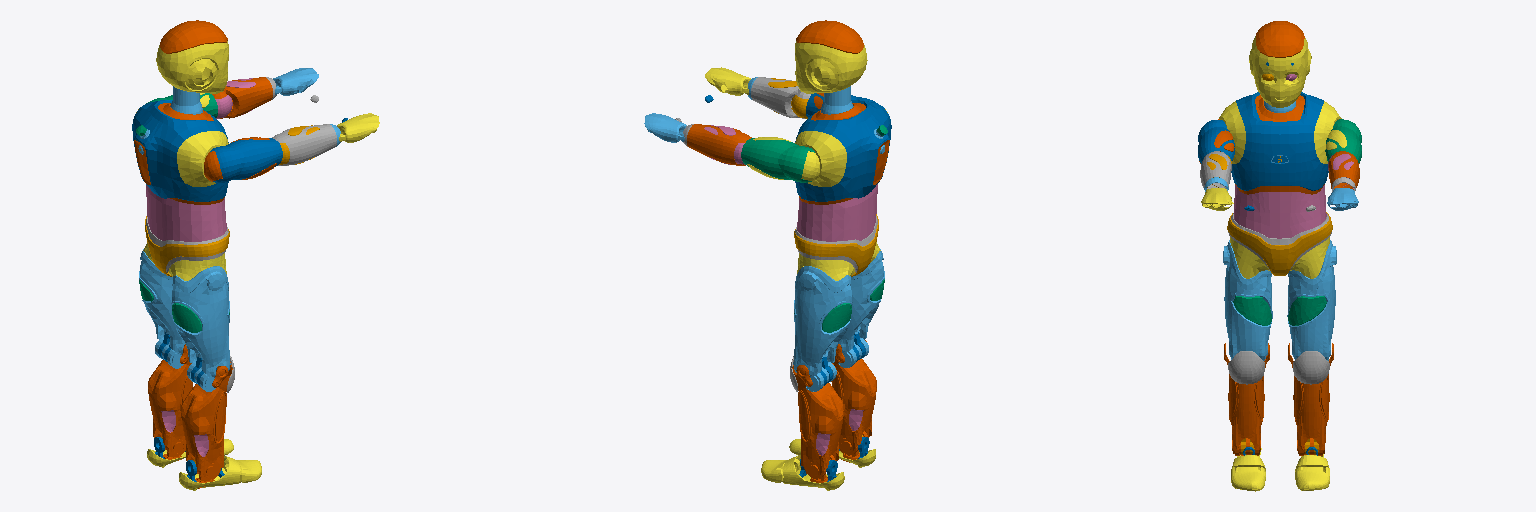
--- Render facts (derived) ---
The picture shows the robot from 3 angles, left to right: view 1: azimuth 30°, elevation 25°; view 2: azimuth 150°, elevation 25°; view 3: azimuth 270°, elevation 25°; orthographic projection.
Model RomeoH37 with 111 links and 110 joints (61 revolute, 49 fixed), rooted at base_link, posed all joints at 0.
Visible links, largest first — view 1: torso_mainskin, RThigh, RTibia, body, HeadRoll_link, LTibia, RShoulderYaw_link, LThigh, torso_flexibleskin, RElbow, HeadRoll_shell, TrunkYaw_mainskin (+10 smaller); view 2: torso_mainskin, LThigh, LTibia, body, HeadRoll_link, RTibia, LShoulderYaw_link, RThigh, torso_flexibleskin, LElbow, HeadRoll_shell, TrunkYaw_mainskin (+10 smaller); view 3: torso_mainskin, body, LThigh, RThigh, HeadRoll_link, LTibia, RTibia, TrunkYaw_mainskin, torso_flexibleskin, HeadRoll_shell, r_ankle, l_ankle (+14 smaller).
Boxes of the visible links, x1,y1,x2,y2 form: torso_mainskin: (132, 100, 228, 201); RThigh: (171, 266, 230, 378); RTibia: (181, 362, 232, 478); body: (146, 185, 226, 241); HeadRoll_link: (156, 41, 228, 93); LTibia: (148, 344, 192, 453); RShoulderYaw_link: (210, 138, 282, 182); LThigh: (139, 249, 184, 354); torso_flexibleskin: (136, 109, 228, 186); RElbow: (272, 124, 336, 165); HeadRoll_shell: (160, 20, 227, 53); TrunkYaw_mainskin: (145, 216, 229, 276); torso_mainskin: (795, 99, 891, 201); LThigh: (793, 266, 852, 377); LTibia: (792, 363, 843, 477); body: (797, 184, 877, 241); HeadRoll_link: (795, 41, 867, 93); RTibia: (831, 340, 876, 453); LShoulderYaw_link: (741, 138, 814, 182); RThigh: (839, 249, 884, 354); torso_flexibleskin: (795, 109, 887, 186); LElbow: (687, 124, 751, 165); HeadRoll_shell: (796, 20, 863, 53); TrunkYaw_mainskin: (794, 214, 878, 276); torso_mainskin: (1231, 92, 1328, 190); body: (1234, 185, 1326, 238); LThigh: (1287, 240, 1336, 359); RThigh: (1223, 240, 1272, 359); HeadRoll_link: (1249, 36, 1311, 107); LTibia: (1288, 343, 1333, 453); RTibia: (1224, 343, 1269, 453); TrunkYaw_mainskin: (1227, 212, 1332, 275); torso_flexibleskin: (1219, 101, 1341, 163); HeadRoll_shell: (1256, 21, 1304, 57); r_ankle: (1231, 448, 1265, 491); l_ankle: (1295, 454, 1329, 490).
Size in the robot's own frame: 0.7152 by 0.4924 by 1.46 metres.
53 mesh visuals loaded from 77 distinct referenced files (53 OBJ); not drawn: 24 (reference not matched to a file when rendering).

URDF robot description (RomeoH37):
<?xml version="1.0" ?>
<!-- =================================================================================== -->
<!-- |    This document was autogenerated by xacro from romeo_robot.xacro              | -->
<!-- |    EDITING THIS FILE BY HAND IS NOT RECOMMENDED                                 | -->
<!-- =================================================================================== -->
<!--******************************************************************
 ****** File automatically generated by generate_urdf.py script ******
 *********************************************************************-->
<robot name="RomeoH37" xmlns:xacro="http://www.ros.org/wiki/xacro">
  <joint name="NeckYaw" type="revolute">
    <parent link="torso"/>
    <child link="NeckYaw_link"/>
    <origin rpy="0 -2.98023e-08 0" xyz="0.0548 0 0.1675"/>
    <axis xyz="0.173651 0 0.984807"/>
    <limit effort="27.72" lower="-2.0595" upper="2.0595" velocity="4.0"/>
  </joint>
  <link name="NeckYaw_link">
    <inertial>
      <mass value="0.377845"/>
      <inertia ixx="0.000279258" ixy="-3.10908e-07" ixz="-1.49231e-05" iyy="0.000260188" iyz="-8.07538e-07" izz="8.41479e-05"/>
      <origin rpy="0 0 0" xyz="-0.00635646 0 -0.030002"/>
    </inertial>
  </link>
  <joint name="NeckPitch" type="revolute">
    <parent link="NeckYaw_link"/>
    <child link="NeckPitch_link"/>
    <origin rpy="0 -2.98023e-08 0" xyz="0 0 0"/>
    <axis xyz="0 1.0 0"/>
    <limit effort="35.0" lower="-0.3142" upper="0.6632" velocity="2.2"/>
  </joint>
  <link name="NeckPitch_link">
    <inertial>
      <mass value="0.345282"/>
      <inertia ixx="0.000476367" ixy="-1.93678e-06" ixz="0.000128915" iyy="0.000443007" iyz="5.81865e-05" izz="0.000304636"/>
      <origin rpy="0 0 0" xyz="0.00372 0 0.04811"/>
    </inertial>
    <visual>
      <geometry>
        <mesh filename="meshes/romeo/NeckPitch.obj" scale="1 1 1"/>
      </geometry>
      <origin rpy="0 0 0" xyz="0 0 0"/>
    </visual>
    <collision>
      <geometry>
        <mesh filename="meshes/romeo/NeckPitch_0.10.stl" scale="1 1 1"/>
      </geometry>
      <origin rpy="0 0 0" xyz="0 0 0"/>
    </collision>
  </link>
  <joint name="HeadPitch" type="revolute">
    <parent link="NeckPitch_link"/>
    <child link="HeadPitch_link"/>
    <origin rpy="0 0 0" xyz="0 0 0.0951"/>
    <axis xyz="0 1.0 0"/>
    <limit effort="9.40" lower="-0.2571" upper="0.2971" velocity="1.9"/>
  </joint>
  <link name="HeadPitch_link">
    <inertial>
      <mass value="0.158407"/>
      <inertia ixx="2.57346e-05" ixy="1.51196e-07" ixz="-1.52238e-05" iyy="7.43865e-05" iyz="-4.91562e-09" izz="6.6769e-05"/>
      <origin rpy="0 0 0" xyz="0.0014 0 -0.00462"/>
    </inertial>
  </link>

  <!-- Head Roll and additional texture links -->
  <joint name="HeadRoll" type="revolute">
    <parent link="HeadPitch_link"/>
    <child link="HeadRoll_link"/>
    <origin rpy="0 0 0" xyz="0 0 0"/>
    <axis xyz="1.0 0 0"/>
    <limit effort="14.46" lower="-0.4887" upper="0.4887" velocity="1.5"/>
  </joint>
  <link name="HeadRoll_link">
    <inertial>
      <mass value="2.07047"/>
      <inertia ixx="0.00933153" ixy="-3.87986e-05" ixz="0.002764" iyy="0.0110877" iyz="0.000300351" izz="0.00918888"/>
      <origin rpy="0 0 0" xyz="0.01263 0 0.07498"/>
    </inertial>
    <visual>
      <geometry>
        <mesh filename="meshes/romeo/HeadRoll_mainskin.obj" scale="1 1 1"/>
      </geometry>
      <origin rpy="0 0 0" xyz="0 0 0"/>
    </visual>
    <collision>
      <geometry>
        <mesh filename="meshes/romeo/HeadRoll_0.10.stl" scale="1 1 1"/>
      </geometry>
      <origin rpy="0 0 0" xyz="0 0 0"/>
    </collision>
  </link>
  <joint name="HeadRoll_logo_joint" type="fixed">
    <parent link="HeadRoll_link"/>
    <child link="HeadRoll_logo"/>
    <origin rpy="0 0 0" xyz="0 0 0"/>
  </joint>
  <link name="HeadRoll_logo">
    <inertial>
      <mass value="0"/>
      <inertia ixx="0" ixy="0" ixz="0" iyy="0" iyz="0" izz="0"/>
      <origin rpy="0 0 0" xyz="0 0 0"/>
    </inertial>
    <visual>
      <geometry>
        <mesh filename="meshes/romeo/HeadRoll_logo.obj" scale="1 1 1"/>
      </geometry>
      <origin rpy="0 0 0" xyz="0 0 0"/>
    </visual>
  </link>
  <joint name="HeadRoll_shell_joint" type="fixed">
    <parent link="HeadRoll_link"/>
    <child link="HeadRoll_shell"/>
    <origin rpy="0 0 0" xyz="0 0 0"/>
  </joint>
  <link name="HeadRoll_shell">
    <inertial>
      <mass value="0"/>
      <inertia ixx="0" ixy="0" ixz="0" iyy="0" iyz="0" izz="0"/>
      <origin rpy="0 0 0" xyz="0 0 0"/>
    </inertial>
    <visual>
      <geometry>
        <mesh filename="meshes/romeo/HeadRoll_shell.obj" scale="1 1 1"/>
      </geometry>
      <origin rpy="0 0 0" xyz="0 0 0"/>
    </visual>
  </link>

  <joint name="gaze_joint" type="fixed">
    <parent link="HeadRoll_link"/>
    <child link="gaze"/>
    <origin rpy="0 0 0" xyz="0.10247 0 0.05425"/>
  </joint>
  <link name="gaze">
    <inertial>
      <mass value="0"/>
      <inertia ixx="0" ixy="0" ixz="0" iyy="0" iyz="0" izz="0"/>
      <origin rpy="0 0 0" xyz="0 0 0"/>
    </inertial>
  </link>
  <joint name="LHipYaw" type="revolute">
    <parent link="body"/>
    <child link="LHipYaw_link"/>
    <origin rpy="0 0 0" xyz="0.05 0.096 -0.3375"/>
    <axis xyz="0 0 1.0"/>
    <limit effort="103.03" lower="-0.2618" upper="0.2618" velocity="1.045"/>
  </joint>
  <link name="LHipYaw_link">
    <inertial>
      <mass value="0.559188"/>
      <inertia ixx="0.000865336" ixy="-1.1052e-06" ixz="-0.000251445" iyy="0.00143007" iyz="4.25093e-06" izz="0.000851928"/>
      <origin rpy="0 0 0" xyz="-0.00922 -0.00167 0.042"/>
    </inertial>
  </link>
  <joint name="LHipRoll" type="revolute">
    <parent link="LHipYaw_link"/>
    <child link="LHip"/>
    <origin rpy="0 0 0" xyz="0 0 0"/>
    <axis xyz="1.0 0 0"/>
    <limit effort="213.15" lower="-0.2618" upper="0.5236" velocity="2.09"/>
  </joint>
  <link name="LHip">
    <inertial>
      <mass value="0.714778"/>
      <inertia ixx="0.000937272" ixy="-6.73228e-06" ixz="-2.02714e-06" iyy="0.000548117" iyz="1.34974e-06" izz="0.00101855"/>
      <origin rpy="0 0 0" xyz="0.00249 -0.00205 -0.00147"/>
    </inertial>
  </link>

  <!-- LHipPitch joints and links -->
  <joint name="LHipPitch" type="revolute">
    <parent link="LHip"/>
    <child link="LThigh"/>
    <origin rpy="0 0 0" xyz="0 0 0"/>
    <axis xyz="0 1.0 0"/>
    <limit effort="213.15" lower="-1.6581" upper="0.4014" velocity="2.09"/>
  </joint>
  <link name="LThigh">
    <inertial>
      <mass value="4.71096"/>
      <inertia ixx="0.0390706" ixy="-2.41786e-05" ixz="0.0250104" iyy="0.0395116" iyz="0.000712271" izz="0.0122599"/>
      <origin rpy="0 0 0" xyz="-0.02138 -0.00255 -0.14577"/>
    </inertial>
    <visual>
      <geometry>
        <mesh filename="meshes/romeo/LHipPitch_mainskin.obj" scale="1 1 1"/>
      </geometry>
      <origin rpy="0 0 0" xyz="0 0 0"/>
    </visual>
    <collision>
      <geometry>
        <mesh filename="meshes/romeo/LHipPitch_0.10.stl" scale="1 1 1"/>
      </geometry>
      <origin rpy="0 0 0" xyz="0 0 0"/>
    </collision>
  </link>
  <joint name="LHipPitch_shell_joint" type="fixed">
    <parent link="LThigh"/>
    <child link="LHipPitch_shell"/>
    <origin rpy="0 0 0" xyz="0 0 0"/>
  </joint>
  <link name="LHipPitch_shell">
    <inertial>
      <mass value="0"/>
      <inertia ixx="0" ixy="0" ixz="0" iyy="0" iyz="0" izz="0"/>
      <origin rpy="0 0 0" xyz="0 0 0"/>
    </inertial>
    <visual>
      <geometry>
        <mesh filename="meshes/romeo/LHipPitch_shell.obj" scale="1 1 1"/>
      </geometry>
      <origin rpy="0 0 0" xyz="0 0 0"/>
    </visual>
  </link>
  <joint name="LHipPitch_flexibleskin_joint" type="fixed">
    <parent link="LThigh"/>
    <child link="LHipPitch_flexibleskin"/>
    <origin rpy="0 0 0" xyz="0 0 0"/>
  </joint>
  <link name="LHipPitch_flexibleskin">
    <inertial>
      <mass value="0"/>
      <inertia ixx="0" ixy="0" ixz="0" iyy="0" iyz="0" izz="0"/>
      <origin rpy="0 0 0" xyz="0 0 0"/>
    </inertial>
    <visual>
      <geometry>
        <mesh filename="meshes/romeo/LHipPitch_flexibleskin.obj" scale="1 1 1"/>
      </geometry>
      <origin rpy="0 0 0" xyz="0 0 0"/>
    </visual>
  </link>
  <joint name="LHipPitch_secondaryskin_joint" type="fixed">
    <parent link="LThigh"/>
    <child link="LHipPitch_secondaryskin"/>
    <origin rpy="0 0 0" xyz="0 0 0"/>
  </joint>
  <link name="LHipPitch_secondaryskin">
    <inertial>
      <mass value="0"/>
      <inertia ixx="0" ixy="0" ixz="0" iyy="0" iyz="0" izz="0"/>
      <origin rpy="0 0 0" xyz="0 0 0"/>
    </inertial>
    <visual>
      <geometry>
        <mesh filename="meshes/romeo/LHipPitch_secondaryskin.obj" scale="1 1 1"/>
      </geometry>
      <origin rpy="0 0 0" xyz="0 0 0"/>
    </visual>
  </link>

  <!-- LKneePitch joints and links -->
  <joint name="LKneePitch" type="revolute">
    <parent link="LThigh"/>
    <child link="LTibia"/>
    <origin rpy="0 0 0" xyz="0 0 -0.322"/>
    <axis xyz="0 1.0 0"/>
    <limit effort="292.50" lower="-0.0218" upper="1.9722" velocity="6.0"/>
  </joint>
  <link name="LTibia">
    <inertial>
      <mass value="2.72291"/>
      <inertia ixx="0.0159124" ixy="5.49385e-08" ixz="0.00301963" iyy="0.0158076" iyz="-6.1473e-06" izz="0.00369233"/>
      <origin rpy="0 0 0" xyz="-0.00415 -0.00054 -0.11011"/>
    </inertial>
    <visual>
      <geometry>
        <mesh filename="meshes/romeo/LKneePitch_mainskin.obj" scale="1 1 1"/>
      </geometry>
      <origin rpy="0 0 0" xyz="0 0 0"/>
    </visual>
    <collision>
      <geometry>
        <mesh filename="meshes/romeo/LKneePitch_0.10.stl" scale="1 1 1"/>
      </geometry>
      <origin rpy="0 0 0" xyz="0 0 0"/>
    </collision>
  </link>
  <joint name="LKneePitch_secondaryskin_joint" type="fixed">
    <parent link="LTibia"/>
    <child link="LKneePitch_secondaryskin"/>
    <origin rpy="0 0 0" xyz="0 0 0"/>
  </joint>
  <link name="LKneePitch_secondaryskin">
    <inertial>
      <mass value="0"/>
      <inertia ixx="0" ixy="0" ixz="0" iyy="0" iyz="0" izz="0"/>
      <origin rpy="0 0 0" xyz="0 0 0"/>
    </inertial>
    <visual>
      <geometry>
        <mesh filename="meshes/romeo/LKneePitch_secondaryskin.obj" scale="1 1 1"/>
      </geometry>
      <origin rpy="0 0 0" xyz="0 0 0"/>
    </visual>
  </link>
  <joint name="LKneePitch_shell_joint" type="fixed">
    <parent link="LTibia"/>
    <child link="LKneePitch_shell"/>
    <origin rpy="0 0 0" xyz="0 0 0"/>
  </joint>
  <link name="LKneePitch_shell">
    <inertial>
      <mass value="0"/>
      <inertia ixx="0" ixy="0" ixz="0" iyy="0" iyz="0" izz="0"/>
      <origin rpy="0 0 0" xyz="0 0 0"/>
    </inertial>
    <visual>
      <geometry>
        <mesh filename="meshes/romeo/LKneePitch_shell.obj" scale="1 1 1"/>
      </geometry>
      <origin rpy="0 0 0" xyz="0 0 0"/>
    </visual>
  </link>
  <joint name="LKneePitch_secondaryskin2_joint" type="fixed">
    <parent link="LTibia"/>
    <child link="LKneePitch_secondaryskin2"/>
    <origin rpy="0 0 0" xyz="0 0 0"/>
  </joint>
  <link name="LKneePitch_secondaryskin2">
    <inertial>
      <mass value="0"/>
      <inertia ixx="0" ixy="0" ixz="0" iyy="0" iyz="0" izz="0"/>
      <origin rpy="0 0 0" xyz="0 0 0"/>
    </inertial>
    <visual>
      <geometry>
        <mesh filename="meshes/romeo/LKneePitch_secondaryskin2.obj" scale="1 1 1"/>
      </geometry>
      <origin rpy="0 0 0" xyz="0 0 0"/>
    </visual>
  </link>
  <joint name="LKneePitch_secondaryskin3_joint" type="fixed">
    <parent link="LTibia"/>
    <child link="LKneePitch_secondaryskin3"/>
    <origin rpy="0 0 0" xyz="0 0 0"/>
  </joint>
  <link name="LKneePitch_secondaryskin3">
    <inertial>
      <mass value="0"/>
      <inertia ixx="0" ixy="0" ixz="0" iyy="0" iyz="0" izz="0"/>
      <origin rpy="0 0 0" xyz="0 0 0"/>
    </inertial>
    <visual>
      <geometry>
        <mesh filename="meshes/romeo/LKneePitch_secondaryskin3.obj" scale="1 1 1"/>
      </geometry>
      <origin rpy="0 0 0" xyz="0 0 0"/>
    </visual>
  </link>

  <joint name="LAnklePitch" type="revolute">
    <parent link="LTibia"/>
    <child link="LAnklePitch_link"/>
    <origin rpy="0 0 0" xyz="0 0 -0.29"/>
    <axis xyz="0 1.0 0"/>
    <limit effort="213.15" lower="-0.5149" upper="0.7505" velocity="2.1"/>
  </joint>
  <link name="LAnklePitch_link">
    <inertial>
      <mass value="0.464512"/>
      <inertia ixx="0.000367336" ixy="-1.174e-07" ixz="1.0441e-07" iyy="0.000239298" iyz="-1.23189e-06" izz="0.000425531"/>
      <origin rpy="0 0 0" xyz="0.00132 -0.00117 0.00015"/>
    </inertial>
  </link>

  <!-- LAnkleRoll joints and links -->
  <joint name="LAnkleRoll" type="revolute">
    <parent link="LAnklePitch_link"/>
    <child link="l_ankle"/>
    <origin rpy="0 0 0" xyz="0 0 0"/>
    <axis xyz="1.0 0 0"/>
    <limit effort="213.15" lower="-0.3491" upper="0.3491" velocity="2.1"/>
  </joint>
  <link name="l_ankle">
    <inertial>
      <mass value="1.06764"/>
      <inertia ixx="0.000978167" ixy="-4.97135e-05" ixz="-0.000879138" iyy="0.00586633" iyz="6.13291e-05" izz="0.00589599"/>
      <origin rpy="0 0 0" xyz="0.0483878 0.00120158 -0.0367645"/>
    </inertial>
    <visual>
      <geometry>
        <mesh filename="meshes/romeo/LAnkleRoll_mainskin.obj" scale="1 1 1"/>
      </geometry>
      <origin rpy="0 0 0" xyz="0 0 0"/>
    </visual>
    <collision>
      <geometry>
        <mesh filename="meshes/romeo/LAnkleRoll_0.10.stl" scale="1 1 1"/>
      </geometry>
      <origin rpy="0 0 0" xyz="0 0 0"/>
    </collision>
  </link>
  <joint name="LAnkleRoll_secondaryskin_joint" type="fixed">
    <parent link="l_ankle"/>
    <child link="LAnkleRoll_secondaryskin"/>
    <origin rpy="0 0 0" xyz="0 0 0"/>
  </joint>
  <link name="LAnkleRoll_secondaryskin">
    <inertial>
      <mass value="0"/>
      <inertia ixx="0" ixy="0" ixz="0" iyy="0" iyz="0" izz="0"/>
      <origin rpy="0 0 0" xyz="0 0 0"/>
    </inertial>
    <visual>
      <geometry>
        <mesh filename="meshes/romeo/LAnkleRoll_secondaryskin.obj" scale="1 1 1"/>
      </geometry>
      <origin rpy="0 0 0" xyz="0 0 0"/>
    </visual>
  </link>
  <joint name="LAnkleRoll_secondaryskin2_joint" type="fixed">
    <parent link="l_ankle"/>
    <child link="LAnkleRoll_secondaryskin2"/>
    <origin rpy="0 0 0" xyz="0 0 0"/>
  </joint>
  <link name="LAnkleRoll_secondaryskin2">
    <inertial>
      <mass value="0"/>
      <inertia ixx="0" ixy="0" ixz="0" iyy="0" iyz="0" izz="0"/>
      <origin rpy="0 0 0" xyz="0 0 0"/>
    </inertial>
    <visual>
      <geometry>
        <mesh filename="meshes/romeo/LAnkleRoll_secondaryskin2.obj" scale="1 1 1"/>
      </geometry>
      <origin rpy="0 0 0" xyz="0 0 0"/>
    </visual>
  </link>


  <joint name="LLeg_effector_fixedjoint" type="fixed">
    <parent link="l_ankle"/>
    <child link="l_sole"/>
    <origin rpy="0 0 0" xyz="0 0 -0.0651"/>
    <axis xyz="0 0 0"/>
  </joint>
  <link name="l_sole">
    <inertial>
      <mass value="0"/>
      <inertia ixx="0" ixy="0" ixz="0" iyy="0" iyz="0" izz="0"/>
      <origin rpy="0 0 0" xyz="0 0 0"/>
    </inertial>
  </link>
  <joint name="RHipYaw" type="revolute">
    <parent link="body"/>
    <child link="RHipYaw_link"/>
    <origin rpy="0 0 0" xyz="0.05 -0.096 -0.3375"/>
    <axis xyz="0 0 1.0"/>
    <limit effort="103.03" lower="-0.2618" upper="0.2618" velocity="1.045"/>
  </joint>
  <link name="RHipYaw_link">
    <inertial>
      <mass value="0.559188"/>
      <inertia ixx="0.000865336" ixy="-1.83253e-05" ixz="-0.000251445" iyy="0.00143007" iyz="8.26938e-05" izz="0.000851928"/>
      <origin rpy="0 0 0" xyz="-0.00922 0.00167 0.042"/>
    </inertial>
  </link>
  <joint name="RHipRoll" type="revolute">
    <parent link="RHipYaw_link"/>
    <child link="RHip"/>
    <origin rpy="0 0 0" xyz="0 0 0"/>
    <axis xyz="1.0 0 0"/>
    <limit effort="213.15" lower="-0.5236" upper="0.2618" velocity="2.09"/>
  </joint>
  <link name="RHip">
    <inertial>
      <mass value="0.714778"/>
      <inertia ixx="0.000937272" ixy="5.64884e-07" ixz="-2.02714e-06" iyy="0.000548117" iyz="-2.95823e-06" izz="0.00101855"/>
      <origin rpy="0 0 0" xyz="0.00249 0.00205 -0.00147"/>
    </inertial>
  </link>

  <!-- RHipPitch joints and links -->
  <joint name="RHipPitch" type="revolute">
    <parent link="RHip"/>
    <child link="RThigh"/>
    <origin rpy="0 0 0" xyz="0 0 0"/>
    <axis xyz="0 1.0 0"/>
    <limit effort="213.15" lower="-1.6581" upper="0.4014" velocity="2.09"/>
  </joint>
  <link name="RThigh">
    <inertial>
      <mass value="4.71096"/>
      <inertia ixx="0.0390706" ixy="-0.000537853" ixz="0.0250104" iyy="0.0395116" iyz="-0.00278999" izz="0.0122599"/>
      <origin rpy="0 0 0" xyz="-0.02138 0.00255 -0.14577"/>
    </inertial>
    <visual>
      <geometry>
        <mesh filename="meshes/romeo/RHipPitch_mainskin.obj" scale="1 1 1"/>
      </geometry>
      <origin rpy="0 0 0" xyz="0 0 0"/>
    </visual>
    <collision>
      <geometry>
        <mesh filename="meshes/romeo/RHipPitch_0.10.stl" scale="1 1 1"/>
      </geometry>
      <origin rpy="0 0 0" xyz="0 0 0"/>
    </collision>
  </link>
  <joint name="RHipPitch_shell_joint" type="fixed">
    <parent link="RThigh"/>
    <child link="RHipPitch_shell"/>
    <origin rpy="0 0 0" xyz="0 0 0"/>
  </joint>
  <link name="RHipPitch_shell">
    <inertial>
      <mass value="0"/>
      <inertia ixx="0" ixy="0" ixz="0" iyy="0" iyz="0" izz="0"/>
      <origin rpy="0 0 0" xyz="0 0 0"/>
    </inertial>
    <visual>
      <geometry>
        <mesh filename="meshes/romeo/RHipPitch_shell.obj" scale="1 1 1"/>
      </geometry>
      <origin rpy="0 0 0" xyz="0 0 0"/>
    </visual>
  </link>
  <joint name="RHipPitch_flexibleskin_joint" type="fixed">
    <parent link="RThigh"/>
    <child link="RHipPitch_flexibleskin"/>
    <origin rpy="0 0 0" xyz="0 0 0"/>
  </joint>
  <link name="RHipPitch_flexibleskin">
    <inertial>
      <mass value="0"/>
      <inertia ixx="0" ixy="0" ixz="0" iyy="0" iyz="0" izz="0"/>
      <origin rpy="0 0 0" xyz="0 0 0"/>
    </inertial>
    <visual>
      <geometry>
        <mesh filename="meshes/romeo/RHipPitch_flexibleskin.obj" scale="1 1 1"/>
      </geometry>
      <origin rpy="0 0 0" xyz="0 0 0"/>
    </visual>
  </link>
  <joint name="RHipPitch_secondaryskin_joint" type="fixed">
    <parent link="RThigh"/>
    <child link="RHipPitch_secondaryskin"/>
    <origin rpy="0 0 0" xyz="0 0 0"/>
  </joint>
  <link name="RHipPitch_secondaryskin">
    <inertial>
      <mass value="0"/>
      <inertia ixx="0" ixy="0" ixz="0" iyy="0" iyz="0" izz="0"/>
      <origin rpy="0 0 0" xyz="0 0 0"/>
    </inertial>
    <visual>
      <geometry>
        <mesh filename="meshes/romeo/RHipPitch_secondaryskin.obj" scale="1 1 1"/>
      </geometry>
      <origin rpy="0 0 0" xyz="0 0 0"/>
    </visual>
  </link>

  <!-- RKneePitch joints and links -->
  <joint name="RKneePitch" type="revolute">
    <parent link="RThigh"/>
    <child link="RTibia"/>
    <origin rpy="0 0 0" xyz="0 0 -0.322"/>
    <axis xyz="0 1.0 0"/>
    <limit effort="292.50" lower="-0.0218" upper="1.9722" velocity="6.0"/>
  </joint>
  <link name="RTibia">
    <inertial>
      <mass value="2.72291"/>
      <inertia ixx="0.0159124" ixy="-1.21492e-05" ixz="0.00301963" iyy="0.0158076" iyz="-0.000329953" izz="0.00369233"/>
      <origin rpy="0 0 0" xyz="-0.00415 0.00054 -0.11011"/>
    </inertial>
    <visual>
      <geometry>
        <mesh filename="meshes/romeo/RKneePitch_mainskin.obj" scale="1 1 1"/>
      </geometry>
      <origin rpy="0 0 0" xyz="0 0 0"/>
    </visual>
    <collision>
      <geometry>
        <mesh filename="meshes/romeo/RKneePitch_0.10.stl" scale="1 1 1"/>
      </geometry>
      <origin rpy="0 0 0" xyz="0 0 0"/>
    </collision>
  </link>
  <joint name="RKneePitch_secondaryskin_joint" type="fixed">
    <parent link="RTibia"/>
    <child link="RKneePitch_secondaryskin"/>
    <origin rpy="0 0 0" xyz="0 0 0"/>
  </joint>
  <link name="RKneePitch_secondaryskin">
    <inertial>
      <mass value="0"/>
      <inertia ixx="0" ixy="0" ixz="0" iyy="0" iyz="0" izz="0"/>
      <origin rpy="0 0 0" xyz="0 0 0"/>
    </inertial>
    <visual>
      <geometry>
        <mesh filename="meshes/romeo/RKneePitch_secondaryskin.obj" scale="1 1 1"/>
      </geometry>
      <origin rpy="0 0 0" xyz="0 0 0"/>
    </visual>
  </link>
  <joint name="RKneePitch_shell_joint" type="fixed">
    <parent link="RTibia"/>
    <child link="RKneePitch_shell"/>
    <origin rpy="0 0 0" xyz="0 0 0"/>
  </joint>
  <link name="RKneePitch_shell">
    <inertial>
      <mass value="0"/>
      <inertia ixx="0" ixy="0" ixz="0" iyy="0" iyz="0" izz="0"/>
      <origin rpy="0 0 0" xyz="0 0 0"/>
    </inertial>
    <visual>
      <geometry>
        <mesh filename="meshes/romeo/RKneePitch_shell.obj" scale="1 1 1"/>
      </geometry>
      <origin rpy="0 0 0" xyz="0 0 0"/>
    </visual>
  </link>
  <joint name="RKneePitch_secondaryskin2_joint" type="fixed">
    <parent link="RTibia"/>
    <child link="RKneePitch_secondaryskin2"/>
    <origin rpy="0 0 0" xyz="0 0 0"/>
  </joint>
  <link name="RKneePitch_secondaryskin2">
    <inertial>
      <mass value="0"/>
      <inertia ixx="0" ixy="0" ixz="0" iyy="0" iyz="0" izz="0"/>
      <origin rpy="0 0 0" xyz="0 0 0"/>
    </inertial>
    <visual>
      <geometry>
        <mesh filename="meshes/romeo/RKneePitch_secondaryskin2.obj" scale="1 1 1"/>
      </geometry>
      <origin rpy="0 0 0" xyz="0 0 0"/>
    </visual>
  </link>
  <joint name="RKneePitch_secondaryskin3_joint" type="fixed">
    <parent link="RTibia"/>
    <child link="RKneePitch_secondaryskin3"/>
    <origin rpy="0 0 0" xyz="0 0 0"/>
  </joint>
  <link name="RKneePitch_secondaryskin3">
    <inertial>
      <mass value="0"/>
      <inertia ixx="0" ixy="0" ixz="0" iyy="0" iyz="0" izz="0"/>
      <origin rpy="0 0 0" xyz="0 0 0"/>
    </inertial>
    <visual>
      <geometry>
        <mesh filename="meshes/romeo/RKneePitch_secondaryskin3.obj" scale="1 1 1"/>
      </geometry>
      <origin rpy="0 0 0" xyz="0 0 0"/>
    </visual>
  </link>

  <joint name="RAnklePitch" type="revolute">
    <parent link="RTibia"/>
    <child link="RAnklePitch_link"/>
    <origin rpy="0 0 0" xyz="0 0 -0.29"/>
    <axis xyz="0 1.0 0"/>
    <limit effort="213.15" lower="-0.5149" upper="0.7505" velocity="2.1"/>
  </joint>
  <link name="RAnklePitch_link">
    <inertial>
      <mass value="0.464512"/>
      <inertia ixx="0.000367336" ixy="1.31739e-06" ixz="1.0441e-07" iyy="0.000239298" iyz="-1.06885e-06" izz="0.000425531"/>
      <origin rpy="0 0 0" xyz="0.00132 0.00117 0.00015"/>
    </inertial>
  </link>

  <!-- RAnkleRoll joints and links -->
  <joint name="RAnkleRoll" type="revolute">
    <parent link="RAnklePitch_link"/>
    <child link="r_ankle"/>
    <origin rpy="0 0 0" xyz="0 0 0"/>
    <axis xyz="1.0 0 0"/>
    <limit effort="213.15" lower="-0.3491" upper="0.3491" velocity="2.1"/>
  </joint>
  <link name="r_ankle">
    <inertial>
      <mass value="1.06764"/>
      <inertia ixx="0.000978167" ixy="-0.000173863" ixz="-0.000879138" iyy="0.00586633" iyz="0.000155656" izz="0.00589599"/>
      <origin rpy="0 0 0" xyz="0.0483878 -0.00120158 -0.0367645"/>
    </inertial>
    <visual>
      <geometry>
        <mesh filename="meshes/romeo/RAnkleRoll_mainskin.obj" scale="1 1 1"/>
      </geometry>
      <origin rpy="0 0 0" xyz="0 0 0"/>
    </visual>
    <collision>
      <geometry>
        <mesh filename="meshes/romeo/RAnkleRoll_0.10.stl" scale="1 1 1"/>
      </geometry>
      <origin rpy="0 0 0" xyz="0 0 0"/>
    </collision>
  </link>
  <joint name="RAnkleRoll_secondaryskin_joint" type="fixed">
    <parent link="r_ankle"/>
    <child link="RAnkleRoll_secondaryskin"/>
    <origin rpy="0 0 0" xyz="0 0 0"/>
  </joint>
  <link name="RAnkleRoll_secondaryskin">
    <inertial>
      <mass value="0"/>
      <inertia ixx="0" ixy="0" ixz="0" iyy="0" iyz="0" izz="0"/>
      <origin rpy="0 0 0" xyz="0 0 0"/>
    </inertial>
    <visual>
      <geometry>
        <mesh filename="meshes/romeo/RAnkleRoll_secondaryskin.obj" scale="1 1 1"/>
      </geometry>
      <origin rpy="0 0 0" xyz="0 0 0"/>
    </visual>
  </link>
  <joint name="RAnkleRoll_secondaryskin2_joint" type="fixed">
    <parent link="r_ankle"/>
    <child link="RAnkleRoll_secondaryskin2"/>
    <origin rpy="0 0 0" xyz="0 0 0"/>
  </joint>
  <link name="RAnkleRoll_secondaryskin2">
    <inertial>
      <mass value="0"/>
      <inertia ixx="0" ixy="0" ixz="0" iyy="0" iyz="0" izz="0"/>
      <origin rpy="0 0 0" xyz="0 0 0"/>
    </inertial>
    <visual>
      <geometry>
        <mesh filename="meshes/romeo/RAnkleRoll_secondaryskin2.obj" scale="1 1 1"/>
      </geometry>
      <origin rpy="0 0 0" xyz="0 0 0"/>
    </visual>
  </link>

  <joint name="RLeg_effector_fixedjoint" type="fixed">
    <parent link="r_ankle"/>
    <child link="r_sole"/>
    <origin rpy="0 0 0" xyz="0 0 -0.0651"/>
    <axis xyz="0 0 0"/>
  </joint>
  <link name="r_sole">
    <inertial>
      <mass value="0"/>
      <inertia ixx="0" ixy="0" ixz="0" iyy="0" iyz="0" izz="0"/>
      <origin rpy="0 0 0" xyz="0 0 0"/>
    </inertial>
  </link>
  <link name="base_link">
    <inertial>
      <mass value="0.00000001"/>
      <!-- <inertia ixx="0" ixy="0" ixz="0" iyy="0" iyz="0" izz="0"/> -->
      <inertia ixx="1" ixy="0" ixz="0" iyy="1" iyz="0" izz="1"/>
      <origin rpy="0 0 0" xyz="0 0 0"/>
    </inertial>
  </link>

  <!-- torso joints and links -->
  <joint name="base_link_fixedjoint" type="fixed">
    <parent link="base_link"/>
    <child link="torso"/>
    <origin rpy="0 0 0" xyz="0 0 0"/>
    <axis xyz="0 0 0"/>
  </joint>
  <link name="torso">
    <inertial>
      <mass value="5.85463"/>
      <inertia ixx="0.0587116" ixy="-3.02711e-06" ixz="0.0101426" iyy="0.0326812" iyz="-0.000132541" izz="0.0637705"/>
      <origin rpy="0 0 0" xyz="0.01512 0 0.06743"/>
    </inertial>
    <visual>
      <geometry>
        <mesh filename="meshes/romeo/Torso_logo.obj" scale="1 1 1"/>
      </geometry>
      <origin rpy="0 0 0" xyz="0 0 0"/>
    </visual>
    <collision>
      <geometry>
        <mesh filename="meshes/romeo/Torso_0.10.stl" scale="1 1 1"/>
      </geometry>
      <origin rpy="0 0 0" xyz="0 0 0"/>
    </collision>
  </link>
  <joint name="torso_secondaryskin_joint" type="fixed">
    <parent link="torso"/>
    <child link="torso_secondaryskin"/>
    <origin rpy="0 0 0" xyz="0 0 0"/>
  </joint>
  <link name="torso_secondaryskin">
    <inertial>
      <mass value="0"/>
      <inertia ixx="0" ixy="0" ixz="0" iyy="0" iyz="0" izz="0"/>
      <origin rpy="0 0 0" xyz="0 0 0"/>
    </inertial>
    <visual>
      <geometry>
        <mesh filename="meshes/romeo/Torso_secondaryskin.obj" scale="1 1 1"/>
      </geometry>
      <origin rpy="0 0 0" xyz="0 0 0"/>
    </visual>
  </link>
  <joint name="torso_emergencybutton_joint" type="fixed">
    <parent link="torso"/>
    <child link="torso_emergencybutton"/>
    <origin rpy="0 0 0" xyz="0 0 0"/>
  </joint>
  <link name="torso_emergencybutton">
    <inertial>
      <mass value="0"/>
      <inertia ixx="0" ixy="0" ixz="0" iyy="0" iyz="0" izz="0"/>
      <origin rpy="0 0 0" xyz="0 0 0"/>
    </inertial>
    <visual>
      <geometry>
        <mesh filename="meshes/romeo/Torso_emergencybutton.obj" scale="1 1 1"/>
      </geometry>
      <origin rpy="0 0 0" xyz="0 0 0"/>
    </visual>
  </link>
  <joint name="torso_flexibleskin_joint" type="fixed">
    <parent link="torso"/>
    <child link="torso_flexibleskin"/>
    <origin rpy="0 0 0" xyz="0 0 0"/>
  </joint>
  <link name="torso_flexibleskin">
    <inertial>
      <mass value="0"/>
      <inertia ixx="0" ixy="0" ixz="0" iyy="0" iyz="0" izz="0"/>
      <origin rpy="0 0 0" xyz="0 0 0"/>
    </inertial>
    <visual>
      <geometry>
        <mesh filename="meshes/romeo/Torso_flexibleskin.obj" scale="1 1 1"/>
      </geometry>
      <origin rpy="0 0 0" xyz="0 0 0"/>
    </visual>
  </link>
  <joint name="torso_mainskin_joint" type="fixed">
    <parent link="torso"/>
    <child link="torso_mainskin"/>
    <origin rpy="0 0 0" xyz="0 0 0"/>
  </joint>
  <link name="torso_mainskin">
    <inertial>
      <mass value="0"/>
      <inertia ixx="0" ixy="0" ixz="0" iyy="0" iyz="0" izz="0"/>
      <origin rpy="0 0 0" xyz="0 0 0"/>
    </inertial>
    <visual>
      <geometry>
        <mesh filename="meshes/romeo/Torso_mainskin.obj" scale="1 1 1"/>
      </geometry>
      <origin rpy="0 0 0" xyz="0 0 0"/>
    </visual>
  </link>
  <joint name="torso_shell_joint" type="fixed">
    <parent link="torso"/>
    <child link="torso_shell"/>
    <origin rpy="0 0 0" xyz="0 0 0"/>
  </joint>
  <link name="torso_shell">
    <inertial>
      <mass value="0"/>
      <inertia ixx="0" ixy="0" ixz="0" iyy="0" iyz="0" izz="0"/>
      <origin rpy="0 0 0" xyz="0 0 0"/>
    </inertial>
    <visual>
      <geometry>
        <mesh filename="meshes/romeo/Torso_shell.obj" scale="1 1 1"/>
      </geometry>
      <origin rpy="0 0 0" xyz="0 0 0"/>
    </visual>
  </link>

  <!-- TrunkYaw joints and links -->
  <joint name="TrunkYaw" type="revolute">
    <parent link="torso"/>
    <child link="body"/>
    <origin rpy="0 0 0" xyz="0 0 0"/>
    <axis xyz="0 0 1.0"/>
    <limit effort="49.93" lower="-0.7575" upper="0.7575" velocity="1.5"/>
  </joint>
  <link name="body">
    <inertial>
      <mass value="5.11337"/>
      <inertia ixx="0.0564204" ixy="7.26322e-05" ixz="-0.0575115" iyy="0.0521042" iyz="-3.39086e-05" izz="0.021185"/>
      <origin rpy="0 0 0" xyz="0.02825 0 -0.16653"/>
    </inertial>
    <visual>
      <geometry>
        <mesh filename="meshes/romeo/TrunkYaw_flexibleskin.obj" scale="1 1 1"/>
      </geometry>
      <origin rpy="0 0 0" xyz="0 0 0"/>
    </visual>
    <collision>
      <geometry>
        <mesh filename="meshes/romeo/TrunkYaw_0.10.stl" scale="1 1 1"/>
      </geometry>
      <origin rpy="0 0 0" xyz="0 0 0"/>
    </collision>
  </link>
  <joint name="TrunkYaw_shell_joint" type="fixed">
    <parent link="body"/>
    <child link="TrunkYaw_shell"/>
    <origin rpy="0 0 0" xyz="0 0 0"/>
  </joint>
  <link name="TrunkYaw_shell">
    <inertial>
      <mass value="0"/>
      <inertia ixx="0" ixy="0" ixz="0" iyy="0" iyz="0" izz="0"/>
      <origin rpy="0 0 0" xyz="0 0 0"/>
    </inertial>
    <visual>
      <geometry>
        <mesh filename="meshes/romeo/TrunkYaw_shell.obj" scale="1 1 1"/>
      </geometry>
      <origin rpy="0 0 0" xyz="0 0 0"/>
    </visual>
  </link>
  <joint name="TrunkYaw_mainskin_joint" type="fixed">
    <parent link="body"/>
    <child link="TrunkYaw_mainskin"/>
    <origin rpy="0 0 0" xyz="0 0 0"/>
  </joint>
  <link name="TrunkYaw_mainskin">
    <inertial>
      <mass value="0"/>
      <inertia ixx="0" ixy="0" ixz="0" iyy="0" iyz="0" izz="0"/>
      <origin rpy="0 0 0" xyz="0 0 0"/>
    </inertial>
    <visual>
      <geometry>
        <mesh filename="meshes/romeo/TrunkYaw_mainskin.obj" scale="1 1 1"/>
      </geometry>
      <origin rpy="0 0 0" xyz="0 0 0"/>
    </visual>
  </link>

  <joint name="LShoulderPitch" type="revolute">
    <parent link="torso"/>
    <child link="LShoulder"/>
    <origin rpy="1.49012e-08 7.45058e-09 0" xyz="0.049862 0.19 0.073851"/>
    <axis xyz="0.417025 0.895055 -0.15801"/>
    <limit effort="21.94" lower="-1.3491" upper="2.2462" velocity="2.2"/>
  </joint>
  <link name="LShoulder">
    <inertial>
      <mass value="0.541429"/>
      <inertia ixx="0.00033428" ixy="-9.92972e-05" ixz="9.98217e-06" iyy="0.000188073" iyz="2.14339e-05" izz="0.000360929"/>
      <origin rpy="0 0 0" xyz="-0.0112798 -0.0260712 0.00468882"/>
    </inertial>
  </link>

  <!-- LShoulderYaw links and joints -->
  <joint name="LShoulderYaw" type="revolute">
    <parent link="LShoulder"/>
    <child link="LShoulderYaw_link"/>
    <origin rpy="2.98023e-08 1.11759e-08 -5.58793e-08" xyz="0 0 0"/>
    <axis xyz="0.0401398 0.155542 0.987013"/>
    <limit effort="15.16" lower="-0.5768" upper="0.9242" velocity="4.0"/>
  </joint>
  <link name="LShoulderYaw_link">
    <inertial>
      <mass value="0.861545"/>
      <inertia ixx="0.00118557" ixy="0.000596133" ixz="0.0011173" iyy="0.00312162" iyz="-2.05919e-05" izz="0.00289955"/>
      <origin rpy="0 0 0" xyz="0.0965281 0.00465308 0.00168775"/>
    </inertial>
    <visual>
      <geometry>
        <mesh filename="meshes/romeo/LShoulderYaw_mainskin.obj" scale="1 1 1"/>
      </geometry>
      <origin rpy="0 0 0" xyz="0 0 0"/>
    </visual>
    <collision>
      <geometry>
        <mesh filename="meshes/romeo/LShoulderYaw_0.10.stl" scale="1 1 1"/>
      </geometry>
      <origin rpy="0 0 0" xyz="0 0 0"/>
    </collision>
  </link>
  <joint name="LShoulderYaw_shell_joint" type="fixed">
    <parent link="LShoulderYaw_link"/>
    <child link="LShoulderYaw_shell"/>
    <origin rpy="0 0 0" xyz="0 0 0"/>
  </joint>
  <link name="LShoulderYaw_shell">
    <inertial>
      <mass value="0"/>
      <inertia ixx="0" ixy="0" ixz="0" iyy="0" iyz="0" izz="0"/>
      <origin rpy="0 0 0" xyz="0 0 0"/>
    </inertial>
    <visual>
      <geometry>
        <mesh filename="meshes/romeo/LShoulderYaw_shell.obj" scale="1 1 1"/>
      </geometry>
      <origin rpy="0 0 0" xyz="0 0 0"/>
    </visual>
  </link>

  <joint name="LElbowRoll" type="revolute">
    <parent link="LShoulderYaw_link"/>
    <child link="LForeArm"/>
    <origin rpy="-2.56114e-09 0 -9.31322e-09" xyz="0.210824 7.40511e-09 -0.008631"/>
    <axis xyz="0.998889 0.0139984 0.044995"/>
    <limit effort="13.86" lower="-2.2148" upper="1.9042" velocity="3.7"/>
  </joint>
  <link name="LForeArm">
    <inertial>
      <mass value="0.600439"/>
      <inertia ixx="0.000207598" ixy="1.2053e-05" ixz="-1.86312e-05" iyy="0.000507683" iyz="1.56171e-06" izz="0.000456309"/>
      <origin rpy="0 0 0" xyz="-0.0348859 -0.0011589 -0.00148134"/>
    </inertial>
  </link>

  <!-- LElbowYaw joints and links -->
  <joint name="LElbowYaw" type="revolute">
    <parent link="LForeArm"/>
    <child link="LElbow"/>
    <origin rpy="-1.49504e-08 -1.86264e-08 2.12577e-09" xyz="0 0 0"/>
    <axis xyz="-0.0449994 0 0.998987"/>
    <limit effort="15.16" lower="-1.5228" upper="0.0044" velocity="4.0"/>
  </joint>
  <link name="LElbow">
    <inertial>
      <mass value="0.460203"/>
      <inertia ixx="0.000503576" ixy="0.000585803" ixz="3.19975e-05" iyy="0.00127777" iyz="3.67296e-05" izz="0.00122813"/>
      <origin rpy="0 0 0" xyz="0.068523 0.0097 0.00458766"/>
    </inertial>
    <visual>
      <geometry>
        <mesh filename="meshes/romeo/LElbowYaw_mainskin.obj" scale="1 1 1"/>
      </geometry>
      <origin rpy="0 0 0" xyz="0 0 0"/>
    </visual>
    <collision>
      <geometry>
        <mesh filename="meshes/romeo/LElbowYaw_0.10.stl" scale="1 1 1"/>
      </geometry>
      <origin rpy="0 0 0" xyz="0 0 0"/>
    </collision>
  </link>
  <joint name="LElbowYaw_shell_joint" type="fixed">
    <parent link="LElbow"/>
    <child link="LElbowYaw_shell"/>
    <origin rpy="0 0 0" xyz="0 0 0"/>
  </joint>
  <link name="LElbowYaw_shell">
    <inertial>
      <mass value="0"/>
      <inertia ixx="0" ixy="0" ixz="0" iyy="0" iyz="0" izz="0"/>
      <origin rpy="0 0 0" xyz="0 0 0"/>
    </inertial>
    <visual>
      <geometry>
        <mesh filename="meshes/romeo/LElbowYaw_shell.obj" scale="1 1 1"/>
      </geometry>
      <origin rpy="0 0 0" xyz="0 0 0"/>
    </visual>
  </link>

  <joint name="LWristRoll" type="revolute">
    <parent link="LElbow"/>
    <child link="LWristRoll_link"/>
    <origin rpy="0 -7.45058e-09 0" xyz="0.190404 0 0.008631"/>
    <axis xyz="0.998987 0 0.0449994"/>
    <limit effort="7.23" lower="-3.6303" upper="0.4887" velocity="1.1"/>
  </joint>
  <link name="LWristRoll_link">
    <inertial>
      <mass value="0.218316"/>
      <inertia ixx="0.000100812" ixy="-1.81881e-06" ixz="-4.56681e-05" iyy="0.000384336" iyz="-1.11019e-07" izz="0.000366084"/>
      <origin rpy="0 0 0" xyz="-0.0592449 6e-05 -0.00144745"/>
    </inertial>
    <visual>
      <geometry>
        <mesh filename="meshes/romeo/LWristRoll.obj" scale="1 1 1"/>
      </geometry>
      <origin rpy="0 0 0" xyz="0 0 0"/>
    </visual>
    <collision>
      <geometry>
        <mesh filename="meshes/romeo/LWristRoll_0.10.stl" scale="1 1 1"/>
      </geometry>
      <origin rpy="0 0 0" xyz="0 0 0"/>
    </collision>
  </link>
  <joint name="LWristYaw" type="revolute">
    <parent link="LWristRoll_link"/>
    <child link="LWristYaw_link"/>
    <origin rpy="0 0 0" xyz="0 0 0"/>
    <axis xyz="-0.0449994 0 0.998987"/>
    <limit effort="2.01" lower="-0.4014" upper="0.4014" velocity="2.26"/>
  </joint>
  <link name="LWristYaw_link">
    <inertial>
      <mass value="0.0758774"/>
      <inertia ixx="1.55687e-05" ixy="-5.1829e-08" ixz="-8.72923e-07" iyy="3.52487e-05" iyz="1.94513e-08" izz="3.4791e-05"/>
      <origin rpy="0 0 0" xyz="-0.00657144 0.00017 -0.000115829"/>
    </inertial>
    <visual>
      <geometry>
        <mesh filename="meshes/romeo/LWristYaw.obj" scale="1 1 1"/>
      </geometry>
      <origin rpy="0 0 0" xyz="0 0 0"/>
    </visual>
    <collision>
      <geometry>
        <mesh filename="meshes/romeo/LWristYaw_0.10.stl" scale="1 1 1"/>
      </geometry>
      <origin rpy="0 0 0" xyz="0 0 0"/>
    </collision>
  </link>
  <joint name="LWristPitch" type="revolute">
    <parent link="LWristYaw_link"/>
    <child link="l_wrist"/>
    <origin rpy="0 0 0" xyz="0 0 0"/>
    <axis xyz="0 1.0 0"/>
    <limit effort="1.39" lower="-0.988" upper="0.8969" velocity="3.75"/>
  </joint>
  <link name="l_wrist">
    <inertial>
      <mass value="0.442191"/>
      <inertia ixx="0.000404603" ixy="-0.000404247" ixz="1.89685e-05" iyy="0.000829354" iyz="7.81042e-05" izz="0.00102014"/>
      <origin rpy="0 0 0" xyz="0.07358 -0.00628 -0.00098"/>
    </inertial>
    <visual>
      <geometry>
        <mesh filename="meshes/romeo/LWristPitch.obj" scale="1 1 1"/>
      </geometry>
      <origin rpy="0 0 0" xyz="0 0 0"/>
    </visual>
    <collision>
      <geometry>
        <mesh filename="meshes/romeo/LWristPitch_0.10.stl" scale="1 1 1"/>
      </geometry>
      <origin rpy="0 0 0" xyz="0 0 0"/>
    </collision>
  </link>
  <joint name="LHand" type="revolute">
    <parent link="l_wrist"/>
    <child link="l_gripper"/>
    <origin rpy="1.5708 0.0450146 -3.14159" xyz="-0.0579412 -0.0159 -0.00260997"/>
    <axis xyz="1.0 0 0"/>
    <limit effort="0.649997" lower="0" upper="1.0" velocity="59.8925"/>
  </joint>
  <link name="l_gripper">
    <inertial>
      <mass value="2e-06"/>
      <inertia ixx="1.1e-09" ixy="0" ixz="0" iyy="1.1e-09" iyz="0" izz="1.1e-09"/>
    </inertial>
  </link>
  <joint name="RShoulderPitch" type="revolute">
    <parent link="torso"/>
    <child link="RShoulder"/>
    <origin rpy="-1.49012e-08 7.45058e-09 0" xyz="0.049862 -0.19 0.073851"/>
    <axis xyz="-0.417025 0.895055 0.15801"/>
    <limit effort="21.94" lower="-1.4554" upper="2.1399" velocity="2.2"/>
  </joint>
  <link name="RShoulder">
    <inertial>
      <mass value="0.541429"/>
      <inertia ixx="0.00032868" ixy="0.000102539" ixz="1.9336e-05" iyy="0.000199958" iyz="-3.81835e-05" izz="0.000354645"/>
      <origin rpy="0 0 0" xyz="-0.0112798 0.0260712 0.00468882"/>
    </inertial>
  </link>

  <!-- RShoulderYaw joints and links -->
  <joint name="RShoulderYaw" type="revolute">
    <parent link="RShoulder"/>
    <child link="RShoulderYaw_link"/>
    <origin rpy="-2.98023e-08 1.49012e-08 -6.42613e-08" xyz="0 0 0"/>
    <axis xyz="0.0401398 -0.155542 0.987014"/>
    <limit effort="15.16" lower="-1.0985" upper="0.4025" velocity="4.0"/>
  </joint>
  <link name="RShoulderYaw_link">
    <inertial>
      <mass value="0.861545"/>
      <inertia ixx="0.00118857" ixy="-0.00036285" ixz="0.001154" iyy="0.00311916" iyz="1.86519e-05" izz="0.002899"/>
      <origin rpy="0 0 0" xyz="0.0965281 -0.00465308 0.00168775"/>
    </inertial>
    <visual>
      <geometry>
        <mesh filename="meshes/romeo/RShoulderYaw_mainskin.obj" scale="1 1 1"/>
      </geometry>
      <origin rpy="0 0 0" xyz="0 0 0"/>
    </visual>
    <collision>
      <geometry>
        <mesh filename="meshes/romeo/RShoulderYaw_0.10.stl" scale="1 1 1"/>
      </geometry>
      <origin rpy="0 0 0" xyz="0 0 0"/>
    </collision>
  </link>
  <joint name="RShoulderYaw_shell_joint" type="fixed">
    <parent link="RShoulderYaw_link"/>
    <child link="RShoulderYaw_shell"/>
    <origin rpy="0 0 0" xyz="0 0 0"/>
  </joint>
  <link name="RShoulderYaw_shell">
    <inertial>
      <mass value="0"/>
      <inertia ixx="0" ixy="0" ixz="0" iyy="0" iyz="0" izz="0"/>
      <origin rpy="0 0 0" xyz="0 0 0"/>
    </inertial>
    <visual>
      <geometry>
        <mesh filename="meshes/romeo/RShoulderYaw_shell.obj" scale="1 1 1"/>
      </geometry>
      <origin rpy="0 0 0" xyz="0 0 0"/>
    </visual>
  </link>

  <joint name="RElbowRoll" type="revolute">
    <parent link="RShoulderYaw_link"/>
    <child link="RForeArm"/>
    <origin rpy="6.69388e-09 7.45058e-09 -7.91624e-08" xyz="0.210824 -1.48548e-08 -0.008631"/>
    <axis xyz="0.998889 -0.0139984 0.044995"/>
    <limit effort="13.86" lower="-1.9047" upper="2.2143" velocity="3.7"/>
  </joint>
  <link name="RForeArm">
    <inertial>
      <mass value="0.600439"/>
      <inertia ixx="0.000207722" ixy="-7.62167e-06" ixz="-1.85932e-05" iyy="0.000507556" iyz="9.54211e-07" izz="0.000456313"/>
      <origin rpy="0 0 0" xyz="-0.0348859 0.0011589 -0.00148134"/>
    </inertial>
  </link>

  <!-- RElbowYaw joints and links -->
  <joint name="RElbowYaw" type="revolute">
    <parent link="RForeArm"/>
    <child link="RElbow"/>
    <origin rpy="1.49504e-08 -1.86264e-08 -2.12577e-09" xyz="0 0 0"/>
    <axis xyz="-0.0449994 0 0.998987"/>
    <limit effort="15.16" lower="-0.0047" upper="1.5225" velocity="4.0"/>
  </joint>
  <link name="RElbow">
    <inertial>
      <mass value="0.460203"/>
      <inertia ixx="0.000503576" ixy="-2.59661e-05" ixz="3.19975e-05" iyy="0.00127777" iyz="-4.2287e-06" izz="0.00122813"/>
      <origin rpy="0 0 0" xyz="0.068523 -0.0097 0.00458766"/>
    </inertial>
    <visual>
      <geometry>
        <mesh filename="meshes/romeo/RElbowYaw_mainskin.obj" scale="1 1 1"/>
      </geometry>
      <origin rpy="0 0 0" xyz="0 0 0"/>
    </visual>
    <collision>
      <geometry>
        <mesh filename="meshes/romeo/RElbowYaw_0.10.stl" scale="1 1 1"/>
      </geometry>
      <origin rpy="0 0 0" xyz="0 0 0"/>
    </collision>
  </link>
  <joint name="RElbowYaw_shell_joint" type="fixed">
    <parent link="RElbow"/>
    <child link="RElbowYaw_shell"/>
    <origin rpy="0 0 0" xyz="0 0 0"/>
  </joint>
  <link name="RElbowYaw_shell">
    <inertial>
      <mass value="0"/>
      <inertia ixx="0" ixy="0" ixz="0" iyy="0" iyz="0" izz="0"/>
      <origin rpy="0 0 0" xyz="0 0 0"/>
    </inertial>
    <visual>
      <geometry>
        <mesh filename="meshes/romeo/RElbowYaw_shell.obj" scale="1 1 1"/>
      </geometry>
      <origin rpy="0 0 0" xyz="0 0 0"/>
    </visual>
  </link>

  <joint name="RWristRoll" type="revolute">
    <parent link="RElbow"/>
    <child link="RWristRoll_link"/>
    <origin rpy="0 -7.45058e-09 0" xyz="0.190404 0 0.008631"/>
    <axis xyz="0.998987 0 0.0449994"/>
    <limit effort="7.23" lower="-0.4887" upper="3.6303" velocity="1.1"/>
  </joint>
  <link name="RWristRoll_link">
    <inertial>
      <mass value="0.218316"/>
      <inertia ixx="0.000100812" ixy="-2.66721e-07" ixz="-4.56681e-05" iyy="0.000384336" iyz="-7.30984e-08" izz="0.000366084"/>
      <origin rpy="0 0 0" xyz="-0.0592449 -6e-05 -0.00144745"/>
    </inertial>
    <visual>
      <geometry>
        <mesh filename="meshes/romeo/RWristRoll.obj" scale="1 1 1"/>
      </geometry>
      <origin rpy="0 0 0" xyz="0 0 0"/>
    </visual>
    <collision>
      <geometry>
        <mesh filename="meshes/romeo/RWristRoll_0.10.stl" scale="1 1 1"/>
      </geometry>
      <origin rpy="0 0 0" xyz="0 0 0"/>
    </collision>
  </link>
  <joint name="RWristYaw" type="revolute">
    <parent link="RWristRoll_link"/>
    <child link="RWristYaw_link"/>
    <origin rpy="0 0 0" xyz="0 0 0"/>
    <axis xyz="-0.0449994 0 0.998987"/>
    <limit effort="2.01" lower="-0.4014" upper="0.4014" velocity="2.26"/>
  </joint>
  <link name="RWristYaw_link">
    <inertial>
      <mass value="0.0758774"/>
      <inertia ixx="1.55687e-05" ixy="1.17703e-07" ixz="-8.72923e-07" iyy="3.52487e-05" iyz="2.24395e-08" izz="3.4791e-05"/>
      <origin rpy="0 0 0" xyz="-0.00657144 -0.00017 -0.000115829"/>
    </inertial>
    <visual>
      <geometry>
        <mesh filename="meshes/romeo/RWristYaw.obj" scale="1 1 1"/>
      </geometry>
      <origin rpy="0 0 0" xyz="0 0 0"/>
    </visual>
    <collision>
      <geometry>
        <mesh filename="meshes/romeo/RWristYaw_0.10.stl" scale="1 1 1"/>
      </geometry>
      <origin rpy="0 0 0" xyz="0 0 0"/>
    </collision>
  </link>
  <joint name="RWristPitch" type="revolute">
    <parent link="RWristYaw_link"/>
    <child link="r_wrist"/>
    <origin rpy="0 0 0" xyz="0 0 0"/>
    <axis xyz="0 1.0 0"/>
    <limit effort="1.39" lower="-0.9868" upper="0.8981" velocity="3.75"/>
  </joint>
  <link name="r_wrist">
    <inertial>
      <mass value="0.442191"/>
      <inertia ixx="0.000404603" ixy="4.4107e-06" ixz="1.89685e-05" iyy="0.000829354" iyz="7.26613e-05" izz="0.00102014"/>
      <origin rpy="0 0 0" xyz="0.07358 0.00628 -0.00098"/>
    </inertial>
    <visual>
      <geometry>
        <mesh filename="meshes/romeo/RWristPitch.obj" scale="1 1 1"/>
      </geometry>
      <origin rpy="0 0 0" xyz="0 0 0"/>
    </visual>
    <collision>
      <geometry>
        <mesh filename="meshes/romeo/RWristPitch_0.10.stl" scale="1 1 1"/>
      </geometry>
      <origin rpy="0 0 0" xyz="0 0 0"/>
    </collision>
  </link>
  <joint name="RHand" type="revolute">
    <parent link="r_wrist"/>
    <child link="r_gripper"/>
    <origin rpy="1.5708 0.0450146 -3.14159" xyz="-0.0579412 -0.0159 -0.00260997"/>
    <axis xyz="1.0 0 0"/>
    <limit effort="0.649997" lower="0" upper="1.0" velocity="59.8925"/>
  </joint>
  <link name="r_gripper">
    <inertial>
      <mass value="2e-06"/>
      <inertia ixx="1.1e-09" ixy="0" ixz="0" iyy="1.1e-09" iyz="0" izz="1.1e-09"/>
    </inertial>
  </link>
  <joint name="LEyeYaw" type="revolute">
    <parent link="HeadRoll_link"/>
    <child link="LEyeYaw_link"/>
    <origin rpy="0 0 0" xyz="0.08948 0.03192 0.05425"/>
    <axis xyz="0 0 1.0"/>
    <limit effort="1.752" lower="-0.523599" upper="0.523599" velocity="293.215"/>
  </joint>
  <link name="LEyeYaw_link">
    <inertial>
      <mass value="0.01"/>
      <inertia ixx="1e-09" ixy="0" ixz="0" iyy="1e-09" iyz="0" izz="1e-09"/>
      <origin rpy="0 -0 1.5708" xyz="0 0 0"/>
    </inertial>
  </link>
  <joint name="LEyePitch" type="revolute">
    <parent link="LEyeYaw_link"/>
    <child link="LEye"/>
    <origin rpy="0 0 0" xyz="0 0 0"/>
    <axis xyz="0 1.0 0"/>
    <limit effort="1.752" lower="-0.349066" upper="0.349066" velocity="293.215"/>
  </joint>
  <link name="LEye">
    <inertial>
      <mass value="0.01"/>
      <inertia ixx="1e-09" ixy="0" ixz="0" iyy="1e-09" iyz="0" izz="1e-09"/>
      <origin rpy="1.5708 -0 -3.14159" xyz="0 0 0"/>
    </inertial>
    <visual>
      <geometry>
        <mesh filename="meshes/romeo/LEyePitch.obj" scale="1 1 1"/>
      </geometry>
      <origin rpy="0 0 0" xyz="0 0 0"/>
    </visual>
    <collision>
      <geometry>
        <mesh filename="meshes/romeo/LEyePitch_0.10.stl" scale="1 1 1"/>
      </geometry>
      <origin rpy="0 0 0" xyz="0 0 0"/>
    </collision>
  </link>
  <joint name="REyeYaw" type="revolute">
    <parent link="HeadRoll_link"/>
    <child link="REyeYaw_link"/>
    <origin rpy="0 0 0" xyz="0.08948 -0.03192 0.05425"/>
    <axis xyz="0 0 1.0"/>
    <limit effort="1.752" lower="-0.523599" upper="0.523599" velocity="293.215"/>
  </joint>
  <link name="REyeYaw_link">
    <inertial>
      <mass value="0.01"/>
      <inertia ixx="1e-09" ixy="0" ixz="0" iyy="1e-09" iyz="0" izz="1e-09"/>
      <origin rpy="0 -0 1.5708" xyz="0 0 0"/>
    </inertial>
  </link>
  <joint name="REyePitch" type="revolute">
    <parent link="REyeYaw_link"/>
    <child link="REye"/>
    <origin rpy="0 0 0" xyz="0 0 0"/>
    <axis xyz="0 1.0 0"/>
    <limit effort="1.752" lower="-0.349066" upper="0.349066" velocity="293.215"/>
  </joint>
  <link name="REye">
    <inertial>
      <mass value="0.01"/>
      <inertia ixx="1e-09" ixy="0" ixz="0" iyy="1e-09" iyz="0" izz="1e-09"/>
      <origin rpy="1.5708 -0 -3.14159" xyz="0 0 0"/>
    </inertial>
    <visual>
      <geometry>
        <mesh filename="meshes/romeo/REyePitch.obj" scale="1 1 1"/>
      </geometry>
      <origin rpy="0 0 0" xyz="0 0 0"/>
    </visual>
    <collision>
      <geometry>
        <mesh filename="meshes/romeo/REyePitch_0.10.stl" scale="1 1 1"/>
      </geometry>
      <origin rpy="0 0 0" xyz="0 0 0"/>
    </collision>
  </link>
  <!-- <link name="RFsrFToeRearRight_frame">
    <collision>
      <geometry>
        <box size="0.01 0.01 0.005"/>
      </geometry>
      <origin rpy="0 0 0" xyz="0 0 0"/>
    </collision>
    <inertial>
      <mass value="2e-06"/>
      <inertia ixx="1.1e-09" ixy="0" ixz="0" iyy="1.1e-09" iyz="0" izz="1.1e-09"/>
    </inertial>
  </link>
  <joint name="RFoot/FSR/ToeRearRight_sensor_fixedjoint" type="fixed">
    <parent link="r_ankle"/>
    <child link="RFsrFToeRearRight_frame"/>
    <origin rpy="0 0 0" xyz="0.11898 -0.0335 -0.06226"/>
    <axis xyz="0 0 0"/>
  </joint> -->
  <link name="CameraLeftEye_frame">
    <inertial>
      <mass value="0"/>
      <inertia ixx="0" ixy="0" ixz="0" iyy="0" iyz="0" izz="0"/>
      <origin rpy="0 0 0" xyz="0 0 0"/>
    </inertial>
  </link>
  <joint name="CameraLeftEye_sensor_fixedjoint" type="fixed">
    <parent link="LEye"/>
    <child link="CameraLeftEye_frame"/>
    <origin rpy="0 0 0" xyz="0.01299 0 0"/>
    <axis xyz="0 0 0"/>
  </joint>
  <link name="ImuHeadGyrometer_frame">
    <inertial>
      <mass value="0"/>
      <inertia ixx="0" ixy="0" ixz="0" iyy="0" iyz="0" izz="0"/>
      <origin rpy="0 0 0" xyz="0 0 0"/>
    </inertial>
  </link>
  <joint name="GyrometerHead_sensor_fixedjoint" type="fixed">
    <parent link="HeadRoll_link"/>
    <child link="ImuHeadGyrometer_frame"/>
    <origin rpy="0 0 1.5708" xyz="-0.01135 -0.04225 0.16011"/>
    <axis xyz="0 0 0"/>
  </joint>
  <!-- <link name="RFsrRearCenter_frame">
    <collision>
      <geometry>
        <box size="0.01 0.01 0.005"/>
      </geometry>
      <origin rpy="0 0 0" xyz="0 0 0"/>
    </collision>
    <inertial>
      <mass value="2e-06"/>
      <inertia ixx="1.1e-09" ixy="0" ixz="0" iyy="1.1e-09" iyz="0" izz="1.1e-09"/>
    </inertial>
  </link>
  <joint name="RFoot/FSR/CenterRear_sensor_fixedjoint" type="fixed">
    <parent link="r_ankle"/>
    <child link="RFsrRearCenter_frame"/>
    <origin rpy="0 0 0" xyz="0.01448 -0.0145 -0.06226"/>
    <axis xyz="0 0 0"/>
  </joint> -->
  <!-- <link name="RFsrFrontCenter_frame">
    <collision>
      <geometry>
        <box size="0.01 0.01 0.005"/>
      </geometry>
      <origin rpy="0 0 0" xyz="0 0 0"/>
    </collision>
    <inertial>
      <mass value="2e-06"/>
      <inertia ixx="1.1e-09" ixy="0" ixz="0" iyy="1.1e-09" iyz="0" izz="1.1e-09"/>
    </inertial>
  </link>
  <joint name="RFoot/FSR/CenterFront_sensor_fixedjoint" type="fixed">
    <parent link="r_ankle"/>
    <child link="RFsrFrontCenter_frame"/>
    <origin rpy="0 0 0" xyz="0.07498 -0.01275 -0.06226"/>
    <axis xyz="0 0 0"/>
  </joint> -->
  <link name="CameraLeftEye_optical_frame">
    <inertial>
      <mass value="0"/>
      <inertia ixx="0" ixy="0" ixz="0" iyy="0" iyz="0" izz="0"/>
      <origin rpy="0 0 0" xyz="0 0 0"/>
    </inertial>
  </link>
  <joint name="CameraLeftEye_optical_frame_fixedjoint" type="fixed">
    <parent link="CameraLeftEye_frame"/>
    <child link="CameraLeftEye_optical_frame"/>
    <origin rpy="-1.57079632679 0 -1.57079632679" xyz="0 0 0"/>
  </joint>
  <!-- <link name="LFsrHeelRight_frame">
    <collision>
      <geometry>
        <box size="0.01 0.01 0.005"/>
      </geometry>
      <origin rpy="0 0 0" xyz="0 0 0"/>
    </collision>
    <inertial>
      <mass value="2e-06"/>
      <inertia ixx="1.1e-09" ixy="0" ixz="0" iyy="1.1e-09" iyz="0" izz="1.1e-09"/>
    </inertial>
  </link>
  <joint name="LFoot/FSR/HeelRight_sensor_fixedjoint" type="fixed">
    <parent link="l_ankle"/>
    <child link="LFsrHeelRight_frame"/>
    <origin rpy="0 0 0" xyz="-0.04602 -0.017 -0.06226"/>
    <axis xyz="0 0 0"/>
  </joint> -->
  <link name="CameraRightEye_frame">
    <inertial>
      <mass value="0"/>
      <inertia ixx="0" ixy="0" ixz="0" iyy="0" iyz="0" izz="0"/>
      <origin rpy="0 0 0" xyz="0 0 0"/>
    </inertial>
  </link>
  <joint name="CameraRightEye_sensor_fixedjoint" type="fixed">
    <parent link="REye"/>
    <child link="CameraRightEye_frame"/>
    <origin rpy="0 0 0" xyz="0.01299 0 0"/>
    <axis xyz="0 0 0"/>
  </joint>
  <link name="CameraRight_optical_frame">
    <inertial>
      <mass value="0"/>
      <inertia ixx="0" ixy="0" ixz="0" iyy="0" iyz="0" izz="0"/>
      <origin rpy="0 0 0" xyz="0 0 0"/>
    </inertial>
  </link>
  <joint name="CameraRight_optical_frame_fixedjoint" type="fixed">
    <parent link="CameraRight_frame"/>
    <child link="CameraRight_optical_frame"/>
    <origin rpy="-1.57079632679 0 -1.57079632679" xyz="0 0 0"/>
  </joint>
  <link name="CameraRightEye_optical_frame">
    <inertial>
      <mass value="0"/>
      <inertia ixx="0" ixy="0" ixz="0" iyy="0" iyz="0" izz="0"/>
      <origin rpy="0 0 0" xyz="0 0 0"/>
    </inertial>
  </link>
  <joint name="CameraRightEye_optical_frame_fixedjoint" type="fixed">
    <parent link="CameraRightEye_frame"/>
    <child link="CameraRightEye_optical_frame"/>
    <origin rpy="-1.57079632679 0 -1.57079632679" xyz="0 0 0"/>
  </joint>
  <!-- <link name="RFsrFToeFrontRight_frame">
    <collision>
      <geometry>
        <box size="0.01 0.01 0.005"/>
      </geometry>
      <origin rpy="0 0 0" xyz="0 0 0"/>
    </collision>
    <inertial>
      <mass value="2e-06"/>
      <inertia ixx="1.1e-09" ixy="0" ixz="0" iyy="1.1e-09" iyz="0" izz="1.1e-09"/>
    </inertial>
  </link>
  <joint name="RFoot/FSR/ToeFrontRight_sensor_fixedjoint" type="fixed">
    <parent link="r_ankle"/>
    <child link="RFsrFToeFrontRight_frame"/>
    <origin rpy="0 0 0" xyz="0.16098 -0.024 -0.06226"/>
    <axis xyz="0 0 0"/>
  </joint> -->
  <!-- <link name="RFsrHeelRight_frame">
    <collision>
      <geometry>
        <box size="0.01 0.01 0.005"/>
      </geometry>
      <origin rpy="0 0 0" xyz="0 0 0"/>
    </collision>
    <inertial>
      <mass value="2e-06"/>
      <inertia ixx="1.1e-09" ixy="0" ixz="0" iyy="1.1e-09" iyz="0" izz="1.1e-09"/>
    </inertial>
  </link>
  <joint name="RFoot/FSR/HeelRight_sensor_fixedjoint" type="fixed">
    <parent link="r_ankle"/>
    <child link="RFsrHeelRight_frame"/>
    <origin rpy="0 0 0" xyz="-0.04602 -0.017 -0.06226"/>
    <axis xyz="0 0 0"/>
  </joint> -->
  <!-- <link name="RFsrFToeRearLeft_frame">
    <collision>
      <geometry>
        <box size="0.01 0.01 0.005"/>
      </geometry>
      <origin rpy="0 0 0" xyz="0 0 0"/>
    </collision>
    <inertial>
      <mass value="2e-06"/>
      <inertia ixx="1.1e-09" ixy="0" ixz="0" iyy="1.1e-09" iyz="0" izz="1.1e-09"/>
    </inertial>
  </link>
  <joint name="RFoot/FSR/ToeRearLeft_sensor_fixedjoint" type="fixed">
    <parent link="r_ankle"/>
    <child link="RFsrFToeRearLeft_frame"/>
    <origin rpy="0 0 0" xyz="0.12698 0.0315 -0.06226"/>
    <axis xyz="0 0 0"/>
  </joint> -->
  <link name="ImuTorsoAccelerometer_frame">
    <inertial>
      <mass value="0"/>
      <inertia ixx="0" ixy="0" ixz="0" iyy="0" iyz="0" izz="0"/>
      <origin rpy="0 0 0" xyz="0 0 0"/>
    </inertial>
  </link>
  <joint name="AccelerometerDownTorso_sensor_fixedjoint" type="fixed">
    <parent link="body"/>
    <child link="ImuTorsoAccelerometer_frame"/>
    <origin rpy="0 0 0" xyz="0.06185 0.0087 -0.1582"/>
    <axis xyz="0 0 0"/>
  </joint>
  <!-- <link name="LFsrFToeRearRight_frame">
    <collision>
      <geometry>
        <box size="0.01 0.01 0.005"/>
      </geometry>
      <origin rpy="0 0 0" xyz="0 0 0"/>
    </collision>
    <inertial>
      <mass value="2e-06"/>
      <inertia ixx="1.1e-09" ixy="0" ixz="0" iyy="1.1e-09" iyz="0" izz="1.1e-09"/>
    </inertial>
  </link>
  <joint name="LFoot/FSR/ToeRearRight_sensor_fixedjoint" type="fixed">
    <parent link="l_ankle"/>
    <child link="LFsrFToeRearRight_frame"/>
    <origin rpy="0 0 0" xyz="0.12698 -0.0315 -0.06226"/>
    <axis xyz="0 0 0"/>
  </joint> -->
  <!-- <link name="LFsrHeelLeft_frame">
    <collision>
      <geometry>
        <box size="0.01 0.01 0.005"/>
      </geometry>
      <origin rpy="0 0 0" xyz="0 0 0"/>
    </collision>
    <inertial>
      <mass value="2e-06"/>
      <inertia ixx="1.1e-09" ixy="0" ixz="0" iyy="1.1e-09" iyz="0" izz="1.1e-09"/>
    </inertial>
  </link>
  <joint name="LFoot/FSR/HeelLeft_sensor_fixedjoint" type="fixed">
    <parent link="l_ankle"/>
    <child link="LFsrHeelLeft_frame"/>
    <origin rpy="0 0 0" xyz="-0.04602 0.017 -0.06226"/>
    <axis xyz="0 0 0"/>
  </joint> -->
  <link name="CameraRight_frame">
    <inertial>
      <mass value="0"/>
      <inertia ixx="0" ixy="0" ixz="0" iyy="0" iyz="0" izz="0"/>
      <origin rpy="0 0 0" xyz="0 0 0"/>
    </inertial>
  </link>
  <joint name="CameraRight_sensor_fixedjoint" type="fixed">
    <parent link="HeadRoll_link"/>
    <child link="CameraRight_frame"/>
    <origin rpy="0 0 0" xyz="0.11229 -0.04 0.09938"/>
    <axis xyz="0 0 0"/>
  </joint>
  <link name="ImuTorsoGyrometer_frame">
    <inertial>
      <mass value="0"/>
      <inertia ixx="0" ixy="0" ixz="0" iyy="0" iyz="0" izz="0"/>
      <origin rpy="0 0 0" xyz="0 0 0"/>
    </inertial>
  </link>
  <joint name="GyrometerDownTorso_sensor_fixedjoint" type="fixed">
    <parent link="body"/>
    <child link="ImuTorsoGyrometer_frame"/>
    <origin rpy="0 0 0" xyz="0.06185 0.0087 -0.1582"/>
    <axis xyz="0 0 0"/>
  </joint>
  <!-- <link name="LFsrFToeRearLeft_frame">
    <collision>
      <geometry>
        <box size="0.01 0.01 0.005"/>
      </geometry>
      <origin rpy="0 0 0" xyz="0 0 0"/>
    </collision>
    <inertial>
      <mass value="2e-06"/>
      <inertia ixx="1.1e-09" ixy="0" ixz="0" iyy="1.1e-09" iyz="0" izz="1.1e-09"/>
    </inertial>
  </link>
  <joint name="LFoot/FSR/ToeRearLeft_sensor_fixedjoint" type="fixed">
    <parent link="l_ankle"/>
    <child link="LFsrFToeRearLeft_frame"/>
    <origin rpy="0 0 0" xyz="0.11898 0.0335 -0.06226"/>
    <axis xyz="0 0 0"/>
  </joint> -->
  <!-- <link name="LFsrRearCenter_frame">
    <collision>
      <geometry>
        <box size="0.01 0.01 0.005"/>
      </geometry>
      <origin rpy="0 0 0" xyz="0 0 0"/>
    </collision>
    <inertial>
      <mass value="2e-06"/>
      <inertia ixx="1.1e-09" ixy="0" ixz="0" iyy="1.1e-09" iyz="0" izz="1.1e-09"/>
    </inertial>
  </link>
  <joint name="LFoot/FSR/CenterRear_sensor_fixedjoint" type="fixed">
    <parent link="l_ankle"/>
    <child link="LFsrRearCenter_frame"/>
    <origin rpy="0 0 0" xyz="0.01448 0.0145 -0.06226"/>
    <axis xyz="0 0 0"/>
  </joint> -->
  <link name="CameraLeft_frame">
    <inertial>
      <mass value="0"/>
      <inertia ixx="0" ixy="0" ixz="0" iyy="0" iyz="0" izz="0"/>
      <origin rpy="0 0 0" xyz="0 0 0"/>
    </inertial>
  </link>
  <joint name="CameraLeft_sensor_fixedjoint" type="fixed">
    <parent link="HeadRoll_link"/>
    <child link="CameraLeft_frame"/>
    <origin rpy="0 0 0" xyz="0.11229 0.04 0.09938"/>
    <axis xyz="0 0 0"/>
  </joint>
  <link name="CameraLeft_optical_frame">
    <inertial>
      <mass value="0"/>
      <inertia ixx="0" ixy="0" ixz="0" iyy="0" iyz="0" izz="0"/>
      <origin rpy="0 0 0" xyz="0 0 0"/>
    </inertial>
  </link>
  <joint name="CameraLeft_optical_frame_fixedjoint" type="fixed">
    <parent link="CameraLeft_frame"/>
    <child link="CameraLeft_optical_frame"/>
    <origin rpy="-1.57079632679 0 -1.57079632679" xyz="0 0 0"/>
  </joint>
  <!-- <link name="LFsrFToeFrontRight_frame">
    <collision>
      <geometry>
        <box size="0.01 0.01 0.005"/>
      </geometry>
      <origin rpy="0 0 0" xyz="0 0 0"/>
    </collision>
    <inertial>
      <mass value="2e-06"/>
      <inertia ixx="1.1e-09" ixy="0" ixz="0" iyy="1.1e-09" iyz="0" izz="1.1e-09"/>
    </inertial>
  </link>
  <joint name="LFoot/FSR/ToeFrontRight_sensor_fixedjoint" type="fixed">
    <parent link="l_ankle"/>
    <child link="LFsrFToeFrontRight_frame"/>
    <origin rpy="0 0 0" xyz="0.17298 -0.023 -0.06226"/>
    <axis xyz="0 0 0"/>
  </joint> -->
  <!-- <link name="RFsrHeelLeft_frame">
    <collision>
      <geometry>
        <box size="0.01 0.01 0.005"/>
      </geometry>
      <origin rpy="0 0 0" xyz="0 0 0"/>
    </collision>
    <inertial>
      <mass value="2e-06"/>
      <inertia ixx="1.1e-09" ixy="0" ixz="0" iyy="1.1e-09" iyz="0" izz="1.1e-09"/>
    </inertial>
  </link>
  <joint name="RFoot/FSR/HeelLeft_sensor_fixedjoint" type="fixed">
    <parent link="r_ankle"/>
    <child link="RFsrHeelLeft_frame"/>
    <origin rpy="0 0 0" xyz="-0.04602 0.017 -0.06226"/>
    <axis xyz="0 0 0"/>
  </joint> -->
  <link name="ImuHeadAccelerometer_frame">
    <inertial>
      <mass value="0"/>
      <inertia ixx="0" ixy="0" ixz="0" iyy="0" iyz="0" izz="0"/>
      <origin rpy="0 0 0" xyz="0 0 0"/>
    </inertial>
  </link>
  <joint name="AccelerometerHead_sensor_fixedjoint" type="fixed">
    <parent link="HeadRoll_link"/>
    <child link="ImuHeadAccelerometer_frame"/>
    <origin rpy="0 0 1.5708" xyz="-0.01135 -0.04225 0.16011"/>
    <axis xyz="0 0 0"/>
  </joint>
  <!-- <link name="LFsrFrontCenter_frame">
    <collision>
      <geometry>
        <box size="0.01 0.01 0.005"/>
      </geometry>
      <origin rpy="0 0 0" xyz="0 0 0"/>
    </collision>
    <inertial>
      <mass value="2e-06"/>
      <inertia ixx="1.1e-09" ixy="0" ixz="0" iyy="1.1e-09" iyz="0" izz="1.1e-09"/>
    </inertial>
  </link>
  <joint name="LFoot/FSR/CenterFront_sensor_fixedjoint" type="fixed">
    <parent link="l_ankle"/>
    <child link="LFsrFrontCenter_frame"/>
    <origin rpy="0 0 0" xyz="0.07498 0.01275 -0.06226"/>
    <axis xyz="0 0 0"/>
  </joint> -->
  <!-- <link name="RFsrFToeFrontLeft_frame">
    <collision>
      <geometry>
        <box size="0.01 0.01 0.005"/>
      </geometry>
      <origin rpy="0 0 0" xyz="0 0 0"/>
    </collision>
    <inertial>
      <mass value="2e-06"/>
      <inertia ixx="1.1e-09" ixy="0" ixz="0" iyy="1.1e-09" iyz="0" izz="1.1e-09"/>
    </inertial>
  </link>
  <joint name="RFoot/FSR/ToeFrontLeft_sensor_fixedjoint" type="fixed">
    <parent link="r_ankle"/>
    <child link="RFsrFToeFrontLeft_frame"/>
    <origin rpy="0 0 0" xyz="0.17298 0.023 -0.06226"/>
    <axis xyz="0 0 0"/>
  </joint> -->
  <!-- <link name="LFsrFToeFrontLeft_frame">
    <collision>
      <geometry>
        <box size="0.01 0.01 0.005"/>
      </geometry>
      <origin rpy="0 0 0" xyz="0 0 0"/>
    </collision>
    <inertial>
      <mass value="2e-06"/>
      <inertia ixx="1.1e-09" ixy="0" ixz="0" iyy="1.1e-09" iyz="0" izz="1.1e-09"/>
    </inertial>
  </link>
  <joint name="LFoot/FSR/ToeFrontLeft_sensor_fixedjoint" type="fixed">
    <parent link="l_ankle"/>
    <child link="LFsrFToeFrontLeft_frame"/>
    <origin rpy="0 0 0" xyz="0.16098 0.024 -0.06226"/>
    <axis xyz="0 0 0"/>
  </joint> -->
  <link name="RFinger13_link">
    <inertial>
      <mass value="2e-06"/>
      <inertia ixx="1.1e-09" ixy="0" ixz="0" iyy="1.1e-09" iyz="0" izz="1.1e-09"/>
    </inertial>
    <visual>
      <geometry>
        <mesh filename="meshes/romeo/RFinger13.obj" scale="1 1 1"/>
      </geometry>
      <origin rpy="0 0 0" xyz="0 0 0"/>
    </visual>
    <collision>
      <geometry>
        <mesh filename="meshes/romeo/RFinger13_0.10.stl" scale="1 1 1"/>
      </geometry>
      <origin rpy="0 0 0" xyz="0 0 0"/>
    </collision>
  </link>
  <joint name="RFinger13" type="revolute">
    <parent link="RFinger12_link"/>
    <child link="RFinger13_link"/>
    <origin rpy="0 0 0" xyz="0 0.0230916 -5.90086e-06"/>
    <axis xyz="0 0 1.0"/>
    <mimic joint="RHand" multiplier="0.988205" offset="0"/>
    <limit effort="0.91" lower="0.0" upper="0.988205" velocity="59.8925"/>
  </joint>
  <link name="RFinger12_link">
    <inertial>
      <mass value="2e-06"/>
      <inertia ixx="1.1e-09" ixy="0" ixz="0" iyy="1.1e-09" iyz="0" izz="1.1e-09"/>
    </inertial>
    <visual>
      <geometry>
        <mesh filename="meshes/romeo/RFinger12.obj" scale="1 1 1"/>
      </geometry>
      <origin rpy="0 0 0" xyz="0 0 0"/>
    </visual>
    <collision>
      <geometry>
        <mesh filename="meshes/romeo/RFinger12_0.10.stl" scale="1 1 1"/>
      </geometry>
      <origin rpy="0 0 0" xyz="0 0 0"/>
    </collision>
  </link>
  <joint name="RFinger12" type="revolute">
    <parent link="RFinger11_link"/>
    <child link="RFinger12_link"/>
    <origin rpy="0 0 0" xyz="0 0.0230929 4.02331e-06"/>
    <axis xyz="0 0 1.0"/>
    <mimic joint="RHand" multiplier="0.988205" offset="0"/>
    <limit effort="0.91" lower="0.0" upper="0.988205" velocity="59.8925"/>
  </joint>
  <link name="LFinger33_link">
    <inertial>
      <mass value="2e-06"/>
      <inertia ixx="1.1e-09" ixy="0" ixz="0" iyy="1.1e-09" iyz="0" izz="1.1e-09"/>
    </inertial>
    <visual>
      <geometry>
        <mesh filename="meshes/romeo/LFinger33.obj" scale="1 1 1"/>
      </geometry>
      <origin rpy="0 0 0" xyz="0 0 0"/>
    </visual>
    <collision>
      <geometry>
        <mesh filename="meshes/romeo/LFinger33_0.10.stl" scale="1 1 1"/>
      </geometry>
      <origin rpy="0 0 0" xyz="0 0 0"/>
    </collision>
  </link>
  <joint name="LFinger33" type="revolute">
    <parent link="LFinger32_link"/>
    <child link="LFinger33_link"/>
    <origin rpy="0 0 0" xyz="0 0.0230916 -5.91576e-06"/>
    <axis xyz="0 0 1.0"/>
    <mimic joint="LHand" multiplier="0.988205" offset="0"/>
    <limit effort="0.91" lower="0.0" upper="0.988205" velocity="59.8925"/>
  </joint>
  <link name="RFinger31_link">
    <inertial>
      <mass value="2e-06"/>
      <inertia ixx="1.1e-09" ixy="0" ixz="0" iyy="1.1e-09" iyz="0" izz="1.1e-09"/>
    </inertial>
    <visual>
      <geometry>
        <mesh filename="meshes/romeo/RFinger31.obj" scale="1 1 1"/>
      </geometry>
      <origin rpy="0 0 0" xyz="0 0 0"/>
    </visual>
    <collision>
      <geometry>
        <mesh filename="meshes/romeo/RFinger31_0.10.stl" scale="1 1 1"/>
      </geometry>
      <origin rpy="0 0 0" xyz="0 0 0"/>
    </collision>
  </link>
  <joint name="RFinger31" type="revolute">
    <parent link="r_wrist"/>
    <child link="RFinger31_link"/>
    <origin rpy="1.69304 1.5708 3.14159" xyz="0.11215 -0.03024 0.00999"/>
    <axis xyz="0 0 1.0"/>
    <mimic joint="RHand" multiplier="0.988205" offset="0"/>
    <limit effort="0.91" lower="0.0" upper="0.988205" velocity="59.8925"/>
  </joint>
  <link name="RFinger32_link">
    <inertial>
      <mass value="2e-06"/>
      <inertia ixx="1.1e-09" ixy="0" ixz="0" iyy="1.1e-09" iyz="0" izz="1.1e-09"/>
    </inertial>
    <visual>
      <geometry>
        <mesh filename="meshes/romeo/RFinger32.obj" scale="1 1 1"/>
      </geometry>
      <origin rpy="0 0 0" xyz="0 0 0"/>
    </visual>
    <collision>
      <geometry>
        <mesh filename="meshes/romeo/RFinger32_0.10.stl" scale="1 1 1"/>
      </geometry>
      <origin rpy="0 0 0" xyz="0 0 0"/>
    </collision>
  </link>
  <joint name="RFinger32" type="revolute">
    <parent link="RFinger31_link"/>
    <child link="RFinger32_link"/>
    <origin rpy="0 0 0" xyz="0 -0.0230929 -4.02331e-06"/>
    <axis xyz="0 0 1.0"/>
    <mimic joint="RHand" multiplier="0.988205" offset="0"/>
    <limit effort="0.91" lower="0.0" upper="0.988205" velocity="59.8925"/>
  </joint>
  <link name="LFinger21_link">
    <inertial>
      <mass value="2e-06"/>
      <inertia ixx="1.1e-09" ixy="0" ixz="0" iyy="1.1e-09" iyz="0" izz="1.1e-09"/>
    </inertial>
    <visual>
      <geometry>
        <mesh filename="meshes/romeo/LFinger21.obj" scale="1 1 1"/>
      </geometry>
      <origin rpy="0 0 0" xyz="0 0 0"/>
    </visual>
    <collision>
      <geometry>
        <mesh filename="meshes/romeo/LFinger21_0.10.stl" scale="1 1 1"/>
      </geometry>
      <origin rpy="0 0 0" xyz="0 0 0"/>
    </collision>
  </link>
  <joint name="LFinger21" type="revolute">
    <parent link="l_wrist"/>
    <child link="LFinger21_link"/>
    <origin rpy="1.5708 1.5708 3.14159" xyz="0.12934 0 0.01499"/>
    <axis xyz="0 0 1.0"/>
    <mimic joint="LHand" multiplier="0.988205" offset="0"/>
    <limit effort="0.91" lower="0.0" upper="0.988205" velocity="59.8925"/>
  </joint>
  <link name="LFinger13_link">
    <inertial>
      <mass value="2e-06"/>
      <inertia ixx="1.1e-09" ixy="0" ixz="0" iyy="1.1e-09" iyz="0" izz="1.1e-09"/>
    </inertial>
    <visual>
      <geometry>
        <mesh filename="meshes/romeo/LFinger13.obj" scale="1 1 1"/>
      </geometry>
      <origin rpy="0 0 0" xyz="0 0 0"/>
    </visual>
    <collision>
      <geometry>
        <mesh filename="meshes/romeo/LFinger13_0.10.stl" scale="1 1 1"/>
      </geometry>
      <origin rpy="0 0 0" xyz="0 0 0"/>
    </collision>
  </link>
  <joint name="LFinger13" type="revolute">
    <parent link="LFinger12_link"/>
    <child link="LFinger13_link"/>
    <origin rpy="0 0 0" xyz="0 -0.0230916 5.90086e-06"/>
    <axis xyz="0 0 1.0"/>
    <mimic joint="LHand" multiplier="0.988205" offset="0"/>
    <limit effort="0.91" lower="0.0" upper="0.988205" velocity="59.8925"/>
  </joint>
  <link name="LFinger32_link">
    <inertial>
      <mass value="2e-06"/>
      <inertia ixx="1.1e-09" ixy="0" ixz="0" iyy="1.1e-09" iyz="0" izz="1.1e-09"/>
    </inertial>
    <visual>
      <geometry>
        <mesh filename="meshes/romeo/LFinger32.obj" scale="1 1 1"/>
      </geometry>
      <origin rpy="0 0 0" xyz="0 0 0"/>
    </visual>
    <collision>
      <geometry>
        <mesh filename="meshes/romeo/LFinger32_0.10.stl" scale="1 1 1"/>
      </geometry>
      <origin rpy="0 0 0" xyz="0 0 0"/>
    </collision>
  </link>
  <joint name="LFinger32" type="revolute">
    <parent link="LFinger31_link"/>
    <child link="LFinger32_link"/>
    <origin rpy="0 0 0" xyz="0 0.0230928 4.02331e-06"/>
    <axis xyz="0 0 1.0"/>
    <mimic joint="LHand" multiplier="0.988205" offset="0"/>
    <limit effort="0.91" lower="0.0" upper="0.988205" velocity="59.8925"/>
  </joint>
  <link name="LFinger11_link">
    <inertial>
      <mass value="2e-06"/>
      <inertia ixx="1.1e-09" ixy="0" ixz="0" iyy="1.1e-09" iyz="0" izz="1.1e-09"/>
    </inertial>
    <visual>
      <geometry>
        <mesh filename="meshes/romeo/LFinger11.obj" scale="1 1 1"/>
      </geometry>
      <origin rpy="0 0 0" xyz="0 0 0"/>
    </visual>
    <collision>
      <geometry>
        <mesh filename="meshes/romeo/LFinger11_0.10.stl" scale="1 1 1"/>
      </geometry>
      <origin rpy="0 0 0" xyz="0 0 0"/>
    </collision>
  </link>
  <joint name="LFinger11" type="revolute">
    <parent link="l_wrist"/>
    <child link="LFinger11_link"/>
    <origin rpy="1.69304 1.5708 3.14159" xyz="0.12385 -0.03024 0.00999"/>
    <axis xyz="0 0 1.0"/>
    <mimic joint="LHand" multiplier="0.988205" offset="0"/>
    <limit effort="0.91" lower="0.0" upper="0.988205" velocity="59.8925"/>
  </joint>
  <link name="RFinger22_link">
    <inertial>
      <mass value="2e-06"/>
      <inertia ixx="1.1e-09" ixy="0" ixz="0" iyy="1.1e-09" iyz="0" izz="1.1e-09"/>
    </inertial>
    <visual>
      <geometry>
        <mesh filename="meshes/romeo/RFinger22.obj" scale="1 1 1"/>
      </geometry>
      <origin rpy="0 0 0" xyz="0 0 0"/>
    </visual>
    <collision>
      <geometry>
        <mesh filename="meshes/romeo/RFinger22_0.10.stl" scale="1 1 1"/>
      </geometry>
      <origin rpy="0 0 0" xyz="0 0 0"/>
    </collision>
  </link>
  <joint name="RFinger22" type="revolute">
    <parent link="RFinger21_link"/>
    <child link="RFinger22_link"/>
    <origin rpy="0 0 0" xyz="0 0.02309 0"/>
    <axis xyz="0 0 1.0"/>
    <mimic joint="RHand" multiplier="0.988205" offset="0"/>
    <limit effort="0.91" lower="0.0" upper="0.988205" velocity="59.8925"/>
  </joint>
  <link name="LFinger22_link">
    <inertial>
      <mass value="2e-06"/>
      <inertia ixx="1.1e-09" ixy="0" ixz="0" iyy="1.1e-09" iyz="0" izz="1.1e-09"/>
    </inertial>
    <visual>
      <geometry>
        <mesh filename="meshes/romeo/LFinger22.obj" scale="1 1 1"/>
      </geometry>
      <origin rpy="0 0 0" xyz="0 0 0"/>
    </visual>
    <collision>
      <geometry>
        <mesh filename="meshes/romeo/LFinger22_0.10.stl" scale="1 1 1"/>
      </geometry>
      <origin rpy="0 0 0" xyz="0 0 0"/>
    </collision>
  </link>
  <joint name="LFinger22" type="revolute">
    <parent link="LFinger21_link"/>
    <child link="LFinger22_link"/>
    <origin rpy="0 0 0" xyz="0 -0.02309 0"/>
    <axis xyz="0 0 1.0"/>
    <mimic joint="LHand" multiplier="0.988205" offset="0"/>
    <limit effort="0.91" lower="0.0" upper="0.988205" velocity="59.8925"/>
  </joint>
  <link name="RFinger21_link">
    <inertial>
      <mass value="2e-06"/>
      <inertia ixx="1.1e-09" ixy="0" ixz="0" iyy="1.1e-09" iyz="0" izz="1.1e-09"/>
    </inertial>
    <visual>
      <geometry>
        <mesh filename="meshes/romeo/RFinger21.obj" scale="1 1 1"/>
      </geometry>
      <origin rpy="0 0 0" xyz="0 0 0"/>
    </visual>
    <collision>
      <geometry>
        <mesh filename="meshes/romeo/RFinger21_0.10.stl" scale="1 1 1"/>
      </geometry>
      <origin rpy="0 0 0" xyz="0 0 0"/>
    </collision>
  </link>
  <joint name="RFinger21" type="revolute">
    <parent link="r_wrist"/>
    <child link="RFinger21_link"/>
    <origin rpy="1.5708 -1.5708 -3.14159" xyz="0.12934 0 0.01499"/>
    <axis xyz="0 0 1.0"/>
    <mimic joint="RHand" multiplier="0.988205" offset="0"/>
    <limit effort="0.91" lower="0.0" upper="0.988205" velocity="59.8925"/>
  </joint>
  <link name="LFinger12_link">
    <inertial>
      <mass value="2e-06"/>
      <inertia ixx="1.1e-09" ixy="0" ixz="0" iyy="1.1e-09" iyz="0" izz="1.1e-09"/>
    </inertial>
    <visual>
      <geometry>
        <mesh filename="meshes/romeo/LFinger12.obj" scale="1 1 1"/>
      </geometry>
      <origin rpy="0 0 0" xyz="0 0 0"/>
    </visual>
    <collision>
      <geometry>
        <mesh filename="meshes/romeo/LFinger12_0.10.stl" scale="1 1 1"/>
      </geometry>
      <origin rpy="0 0 0" xyz="0 0 0"/>
    </collision>
  </link>
  <joint name="LFinger12" type="revolute">
    <parent link="LFinger11_link"/>
    <child link="LFinger12_link"/>
    <origin rpy="0 0 0" xyz="0 -0.0230929 -4.02331e-06"/>
    <axis xyz="0 0 1.0"/>
    <mimic joint="LHand" multiplier="0.988205" offset="0"/>
    <limit effort="0.91" lower="0.0" upper="0.988205" velocity="59.8925"/>
  </joint>
  <link name="RFinger23_link">
    <inertial>
      <mass value="2e-06"/>
      <inertia ixx="1.1e-09" ixy="0" ixz="0" iyy="1.1e-09" iyz="0" izz="1.1e-09"/>
    </inertial>
    <visual>
      <geometry>
        <mesh filename="meshes/romeo/RFinger23.obj" scale="1 1 1"/>
      </geometry>
      <origin rpy="0 0 0" xyz="0 0 0"/>
    </visual>
    <collision>
      <geometry>
        <mesh filename="meshes/romeo/RFinger23_0.10.stl" scale="1 1 1"/>
      </geometry>
      <origin rpy="0 0 0" xyz="0 0 0"/>
    </collision>
  </link>
  <joint name="RFinger23" type="revolute">
    <parent link="RFinger22_link"/>
    <child link="RFinger23_link"/>
    <origin rpy="0 0 0" xyz="0 0.02309 0"/>
    <axis xyz="0 0 1.0"/>
    <mimic joint="RHand" multiplier="0.988205" offset="0"/>
    <limit effort="0.91" lower="0.0" upper="0.988205" velocity="59.8925"/>
  </joint>
  <link name="RFinger11_link">
    <inertial>
      <mass value="2e-06"/>
      <inertia ixx="1.1e-09" ixy="0" ixz="0" iyy="1.1e-09" iyz="0" izz="1.1e-09"/>
    </inertial>
    <visual>
      <geometry>
        <mesh filename="meshes/romeo/RFinger11.obj" scale="1 1 1"/>
      </geometry>
      <origin rpy="0 0 0" xyz="0 0 0"/>
    </visual>
    <collision>
      <geometry>
        <mesh filename="meshes/romeo/RFinger11_0.10.stl" scale="1 1 1"/>
      </geometry>
      <origin rpy="0 0 0" xyz="0 0 0"/>
    </collision>
  </link>
  <joint name="RFinger11" type="revolute">
    <parent link="r_wrist"/>
    <child link="RFinger11_link"/>
    <origin rpy="1.69304 -1.5708 3.14159" xyz="0.12385 0.03024 0.00999"/>
    <axis xyz="0 0 1.0"/>
    <mimic joint="RHand" multiplier="0.988205" offset="0"/>
    <limit effort="0.91" lower="0.0" upper="0.988205" velocity="59.8925"/>
  </joint>
  <link name="LFinger23_link">
    <inertial>
      <mass value="2e-06"/>
      <inertia ixx="1.1e-09" ixy="0" ixz="0" iyy="1.1e-09" iyz="0" izz="1.1e-09"/>
    </inertial>
    <visual>
      <geometry>
        <mesh filename="meshes/romeo/LFinger23.obj" scale="1 1 1"/>
      </geometry>
      <origin rpy="0 0 0" xyz="0 0 0"/>
    </visual>
    <collision>
      <geometry>
        <mesh filename="meshes/romeo/LFinger23_0.10.stl" scale="1 1 1"/>
      </geometry>
      <origin rpy="0 0 0" xyz="0 0 0"/>
    </collision>
  </link>
  <joint name="LFinger23" type="revolute">
    <parent link="LFinger22_link"/>
    <child link="LFinger23_link"/>
    <origin rpy="0 0 0" xyz="0 -0.02309 0"/>
    <axis xyz="0 0 1.0"/>
    <mimic joint="LHand" multiplier="0.988205" offset="0"/>
    <limit effort="0.91" lower="0.0" upper="0.988205" velocity="59.8925"/>
  </joint>
  <link name="LFinger31_link">
    <inertial>
      <mass value="2e-06"/>
      <inertia ixx="1.1e-09" ixy="0" ixz="0" iyy="1.1e-09" iyz="0" izz="1.1e-09"/>
    </inertial>
    <visual>
      <geometry>
        <mesh filename="meshes/romeo/LFinger31.obj" scale="1 1 1"/>
      </geometry>
      <origin rpy="0 0 0" xyz="0 0 0"/>
    </visual>
    <collision>
      <geometry>
        <mesh filename="meshes/romeo/LFinger31_0.10.stl" scale="1 1 1"/>
      </geometry>
      <origin rpy="0 0 0" xyz="0 0 0"/>
    </collision>
  </link>
  <joint name="LFinger31" type="revolute">
    <parent link="l_wrist"/>
    <child link="LFinger31_link"/>
    <origin rpy="1.69304 -1.5708 3.14159" xyz="0.11215 0.03024 0.00999"/>
    <axis xyz="0 0 1.0"/>
    <mimic joint="LHand" multiplier="0.988205" offset="0"/>
    <limit effort="0.91" lower="0.0" upper="0.988205" velocity="59.8925"/>
  </joint>
  <link name="RFinger33_link">
    <inertial>
      <mass value="2e-06"/>
      <inertia ixx="1.1e-09" ixy="0" ixz="0" iyy="1.1e-09" iyz="0" izz="1.1e-09"/>
    </inertial>
    <visual>
      <geometry>
        <mesh filename="meshes/romeo/RFinger33.obj" scale="1 1 1"/>
      </geometry>
      <origin rpy="0 0 0" xyz="0 0 0"/>
    </visual>
    <collision>
      <geometry>
        <mesh filename="meshes/romeo/RFinger33_0.10.stl" scale="1 1 1"/>
      </geometry>
      <origin rpy="0 0 0" xyz="0 0 0"/>
    </collision>
  </link>
  <joint name="RFinger33" type="revolute">
    <parent link="RFinger32_link"/>
    <child link="RFinger33_link"/>
    <origin rpy="0 0 0" xyz="0 -0.0230916 5.90086e-06"/>
    <axis xyz="0 0 1.0"/>
    <mimic joint="RHand" multiplier="0.988205" offset="0"/>
    <limit effort="0.91" lower="0.0" upper="0.988205" velocity="59.8925"/>
  </joint>
  <link name="LThumb3_link">
    <inertial>
      <mass value="2e-06"/>
      <inertia ixx="1.1e-09" ixy="0" ixz="0" iyy="1.1e-09" iyz="0" izz="1.1e-09"/>
    </inertial>
    <visual>
      <geometry>
        <mesh filename="meshes/romeo/LThumb3.obj" scale="1 1 1"/>
      </geometry>
      <origin rpy="0 0 0" xyz="0 0 0"/>
    </visual>
    <collision>
      <geometry>
        <mesh filename="meshes/romeo/LThumb3_0.10.stl" scale="1 1 1"/>
      </geometry>
      <origin rpy="0 0 0" xyz="0 0 0"/>
    </collision>
  </link>
  <joint name="LThumb3" type="revolute">
    <parent link="LThumb2_link"/>
    <child link="LThumb3_link"/>
    <origin rpy="-5.96047e-08 0 1.49012e-08" xyz="0.0187362 0.0135152 5.21541e-06"/>
    <axis xyz="0 0 1.0"/>
    <mimic joint="LHand" multiplier="0.988205" offset="0"/>
    <limit effort="0.91" lower="0.0" upper="0.988205" velocity="59.8925"/>
  </joint>
  <link name="LThumb1_link">
    <inertial>
      <mass value="2e-06"/>
      <inertia ixx="1.1e-09" ixy="0" ixz="0" iyy="1.1e-09" iyz="0" izz="1.1e-09"/>
    </inertial>
    <visual>
      <geometry>
        <mesh filename="meshes/romeo/LThumb1.obj" scale="1 1 1"/>
      </geometry>
      <origin rpy="0 0 0" xyz="0 0 0"/>
    </visual>
    <collision>
      <geometry>
        <mesh filename="meshes/romeo/LThumb1_0.10.stl" scale="1 1 1"/>
      </geometry>
      <origin rpy="0 0 0" xyz="0 0 0"/>
    </collision>
  </link>
  <joint name="LThumb1" type="revolute">
    <parent link="l_wrist"/>
    <child link="LThumb1_link"/>
    <origin rpy="-2.97779 1.21665 -3.14159" xyz="0.0624 -0.03131 -0.00574"/>
    <axis xyz="0 0 1.0"/>
    <mimic joint="LHand" multiplier="1.74533" offset="0"/>
    <limit effort="0.91" lower="0.0" upper="1.74533" velocity="59.8925"/>
  </joint>
  <link name="RThumb1_link">
    <inertial>
      <mass value="2e-06"/>
      <inertia ixx="1.1e-09" ixy="0" ixz="0" iyy="1.1e-09" iyz="0" izz="1.1e-09"/>
    </inertial>
    <visual>
      <geometry>
        <mesh filename="meshes/romeo/RThumb1.obj" scale="1 1 1"/>
      </geometry>
      <origin rpy="0 0 0" xyz="0 0 0"/>
    </visual>
    <collision>
      <geometry>
        <mesh filename="meshes/romeo/RThumb1_0.10.stl" scale="1 1 1"/>
      </geometry>
      <origin rpy="0 0 0" xyz="0 0 0"/>
    </collision>
  </link>
  <joint name="RThumb1" type="revolute">
    <parent link="r_wrist"/>
    <child link="RThumb1_link"/>
    <origin rpy="0.1638 -1.21665 0" xyz="0.0624 0.03131 -0.00574"/>
    <axis xyz="0 0 1.0"/>
    <mimic joint="RHand" multiplier="1.74533" offset="0"/>
    <limit effort="0.91" lower="0.0" upper="1.74533" velocity="59.8925"/>
  </joint>
  <link name="RThumb2_link">
    <inertial>
      <mass value="2e-06"/>
      <inertia ixx="1.1e-09" ixy="0" ixz="0" iyy="1.1e-09" iyz="0" izz="1.1e-09"/>
    </inertial>
    <visual>
      <geometry>
        <mesh filename="meshes/romeo/RThumb2.obj" scale="1 1 1"/>
      </geometry>
      <origin rpy="0 0 0" xyz="0 0 0"/>
    </visual>
    <collision>
      <geometry>
        <mesh filename="meshes/romeo/RThumb2_0.10.stl" scale="1 1 1"/>
      </geometry>
      <origin rpy="0 0 0" xyz="0 0 0"/>
    </collision>
  </link>
  <joint name="RThumb2" type="revolute">
    <parent link="RThumb1_link"/>
    <child link="RThumb2_link"/>
    <origin rpy="1.13316 0 -1.80698" xyz="-0.000329241 0.0388865 -0.017011"/>
    <axis xyz="0 0 1.0"/>
    <mimic joint="RHand" multiplier="0.988205" offset="0"/>
    <limit effort="0.91" lower="0.0" upper="0.988205" velocity="59.8925"/>
  </joint>
  <link name="LThumb2_link">
    <inertial>
      <mass value="2e-06"/>
      <inertia ixx="1.1e-09" ixy="0" ixz="0" iyy="1.1e-09" iyz="0" izz="1.1e-09"/>
    </inertial>
    <visual>
      <geometry>
        <mesh filename="meshes/romeo/LThumb2.obj" scale="1 1 1"/>
      </geometry>
      <origin rpy="0 0 0" xyz="0 0 0"/>
    </visual>
    <collision>
      <geometry>
        <mesh filename="meshes/romeo/LThumb2_0.10.stl" scale="1 1 1"/>
      </geometry>
      <origin rpy="0 0 0" xyz="0 0 0"/>
    </collision>
  </link>
  <joint name="LThumb2" type="revolute">
    <parent link="LThumb1_link"/>
    <child link="LThumb2_link"/>
    <origin rpy="1.13316 7.45058e-09 -1.80698" xyz="0.000329241 -0.0388865 0.017011"/>
    <axis xyz="0 0 1.0"/>
    <mimic joint="LHand" multiplier="0.988205" offset="0"/>
    <limit effort="0.91" lower="0.0" upper="0.988205" velocity="59.8925"/>
  </joint>
  <link name="RThumb3_link">
    <inertial>
      <mass value="2e-06"/>
      <inertia ixx="1.1e-09" ixy="0" ixz="0" iyy="1.1e-09" iyz="0" izz="1.1e-09"/>
    </inertial>
    <visual>
      <geometry>
        <mesh filename="meshes/romeo/RThumb3.obj" scale="1 1 1"/>
      </geometry>
      <origin rpy="0 0 0" xyz="0 0 0"/>
    </visual>
    <collision>
      <geometry>
        <mesh filename="meshes/romeo/RThumb3_0.10.stl" scale="1 1 1"/>
      </geometry>
      <origin rpy="0 0 0" xyz="0 0 0"/>
    </collision>
  </link>
  <joint name="RThumb3" type="revolute">
    <parent link="RThumb2_link"/>
    <child link="RThumb3_link"/>
    <origin rpy="-5.96047e-08 -1.49012e-08 1.49012e-08" xyz="-0.0187362 -0.0135152 -5.21541e-06"/>
    <axis xyz="0 0 1.0"/>
    <mimic joint="RHand" multiplier="0.988205" offset="0"/>
    <limit effort="0.91" lower="0.0" upper="0.988205" velocity="59.8925"/>
  </joint>
  <link name="CameraDepth_frame">
    <inertial>
      <mass value="0"/>
      <inertia ixx="0" ixy="0" ixz="0" iyy="0" iyz="0" izz="0"/>
      <origin rpy="0 0 0" xyz="0 0 0"/>
    </inertial>
  </link>
  <joint name="CameraDepth_joint" type="fixed">
    <parent link="HeadRoll_link"/>
    <child link="CameraDepth_frame"/>
    <origin rpy="0 0 0" xyz="0.1403 -0.04708 0.14655"/>
  </joint>
  <link name="CameraDepth_optical_frame">
    <inertial>
      <mass value="0"/>
      <inertia ixx="0" ixy="0" ixz="0" iyy="0" iyz="0" izz="0"/>
      <origin rpy="0 0 0" xyz="0 0 0"/>
    </inertial>
  </link>
  <joint name="CameraDepth_optical_frame_fixedjoint" type="fixed">
    <parent link="CameraDepth_frame"/>
    <child link="CameraDepth_optical_frame"/>
    <origin rpy="2.0043951 0 1.57079632679" xyz="0 0 0"/>
  </joint>
  <!-- <link name="Cap">
    <inertial>
      <mass value="0.29923"/>
      <inertia ixx="0.000412832" ixy="-1.67846e-06" ixz="0.000111721" iyy="0.000383921" iyz="5.04259e-05" izz="0.000264006"/>
      <origin rpy="0 0 0" xyz="0 0 0"/>
    </inertial>
    <visual>
      <geometry>
        <mesh filename="meshes/romeo/Cap.obj" scale="1 1 1"/>
      </geometry>
      <origin rpy="0 0 0" xyz="0 0 0"/>
    </visual>
  </link>
  <joint name="Cap_joint" type="fixed">
    <parent link="HeadRoll_link"/>
    <child link="Cap"/>
    <origin rpy="0 0 0" xyz="0 0 0"/>
  </joint> -->
  <!-- MACROS FOR DISABLE LINKS -->
  <!-- MACROS FOR MIMIC JOINTS -->
  <!-- Fingers -->
  <!-- Thumbs -->
  <!-- GAZEBO ROS CONTROL AND IMU PLUGIN -->
  <gazebo>
    <plugin filename="libgazebo_ros_control.so" name="gazebo_ros_control">
      <robotNamespace/>
      <robotSimType>gazebo_ros_control/DefaultRobotHWSim</robotSimType>
    </plugin>
    <plugin filename="libroboticsgroup_gazebo_mimic_joint_plugin.so" name="mimic_LFinger11">
      <joint>LHand</joint>
      <mimicJoint>LFinger11</mimicJoint>
      <multiplier>-0.785398163398</multiplier>
      <offset>0.785398163398</offset>
    </plugin>
    <plugin filename="libroboticsgroup_gazebo_mimic_joint_plugin.so" name="mimic_LFinger12">
      <joint>LHand</joint>
      <mimicJoint>LFinger12</mimicJoint>
      <multiplier>-0.785398163398</multiplier>
      <offset>0.785398163398</offset>
    </plugin>
    <plugin filename="libroboticsgroup_gazebo_mimic_joint_plugin.so" name="mimic_LFinger13">
      <joint>LHand</joint>
      <mimicJoint>LFinger13</mimicJoint>
      <multiplier>-0.785398163398</multiplier>
      <offset>0.785398163398</offset>
    </plugin>
    <plugin filename="libroboticsgroup_gazebo_mimic_joint_plugin.so" name="mimic_LFinger21">
      <joint>LHand</joint>
      <mimicJoint>LFinger21</mimicJoint>
      <multiplier>-0.785398163398</multiplier>
      <offset>0.785398163398</offset>
    </plugin>
    <plugin filename="libroboticsgroup_gazebo_mimic_joint_plugin.so" name="mimic_LFinger22">
      <joint>LHand</joint>
      <mimicJoint>LFinger22</mimicJoint>
      <multiplier>-0.785398163398</multiplier>
      <offset>0.785398163398</offset>
    </plugin>
    <plugin filename="libroboticsgroup_gazebo_mimic_joint_plugin.so" name="mimic_LFinger23">
      <joint>LHand</joint>
      <mimicJoint>LFinger23</mimicJoint>
      <multiplier>-0.785398163398</multiplier>
      <offset>0.785398163398</offset>
    </plugin>
    <plugin filename="libroboticsgroup_gazebo_mimic_joint_plugin.so" name="mimic_LFinger31">
      <joint>LHand</joint>
      <mimicJoint>LFinger31</mimicJoint>
      <multiplier>-0.785398163398</multiplier>
      <offset>0.785398163398</offset>
    </plugin>
    <plugin filename="libroboticsgroup_gazebo_mimic_joint_plugin.so" name="mimic_LFinger32">
      <joint>LHand</joint>
      <mimicJoint>LFinger32</mimicJoint>
      <multiplier>-0.785398163398</multiplier>
      <offset>0.785398163398</offset>
    </plugin>
    <plugin filename="libroboticsgroup_gazebo_mimic_joint_plugin.so" name="mimic_LFinger33">
      <joint>LHand</joint>
      <mimicJoint>LFinger33</mimicJoint>
      <multiplier>-0.785398163398</multiplier>
      <offset>0.785398163398</offset>
    </plugin>
    <plugin filename="libroboticsgroup_gazebo_mimic_joint_plugin.so" name="mimic_RFinger11">
      <joint>RHand</joint>
      <mimicJoint>RFinger11</mimicJoint>
      <multiplier>-0.785398163398</multiplier>
      <offset>0.785398163398</offset>
    </plugin>
    <plugin filename="libroboticsgroup_gazebo_mimic_joint_plugin.so" name="mimic_RFinger12">
      <joint>RHand</joint>
      <mimicJoint>RFinger12</mimicJoint>
      <multiplier>-0.785398163398</multiplier>
      <offset>0.785398163398</offset>
    </plugin>
    <plugin filename="libroboticsgroup_gazebo_mimic_joint_plugin.so" name="mimic_RFinger13">
      <joint>RHand</joint>
      <mimicJoint>RFinger13</mimicJoint>
      <multiplier>-0.785398163398</multiplier>
      <offset>0.785398163398</offset>
    </plugin>
    <plugin filename="libroboticsgroup_gazebo_mimic_joint_plugin.so" name="mimic_RFinger21">
      <joint>RHand</joint>
      <mimicJoint>RFinger21</mimicJoint>
      <multiplier>-0.785398163398</multiplier>
      <offset>0.785398163398</offset>
    </plugin>
    <plugin filename="libroboticsgroup_gazebo_mimic_joint_plugin.so" name="mimic_RFinger22">
      <joint>RHand</joint>
      <mimicJoint>RFinger22</mimicJoint>
      <multiplier>-0.785398163398</multiplier>
      <offset>0.785398163398</offset>
    </plugin>
    <plugin filename="libroboticsgroup_gazebo_mimic_joint_plugin.so" name="mimic_RFinger23">
      <joint>RHand</joint>
      <mimicJoint>RFinger23</mimicJoint>
      <multiplier>-0.785398163398</multiplier>
      <offset>0.785398163398</offset>
    </plugin>
    <plugin filename="libroboticsgroup_gazebo_mimic_joint_plugin.so" name="mimic_RFinger31">
      <joint>RHand</joint>
      <mimicJoint>RFinger31</mimicJoint>
      <multiplier>-0.785398163398</multiplier>
      <offset>0.785398163398</offset>
    </plugin>
    <plugin filename="libroboticsgroup_gazebo_mimic_joint_plugin.so" name="mimic_RFinger32">
      <joint>RHand</joint>
      <mimicJoint>RFinger32</mimicJoint>
      <multiplier>-0.785398163398</multiplier>
      <offset>0.785398163398</offset>
    </plugin>
    <plugin filename="libroboticsgroup_gazebo_mimic_joint_plugin.so" name="mimic_RFinger33">
      <joint>RHand</joint>
      <mimicJoint>RFinger33</mimicJoint>
      <multiplier>-0.785398163398</multiplier>
      <offset>0.785398163398</offset>
    </plugin>
    <plugin filename="libroboticsgroup_gazebo_mimic_joint_plugin.so" name="LThumb1">
      <joint>LHand</joint>
      <mimicJoint>LThumb1</mimicJoint>
      <multiplier>-0.785398163398</multiplier>
      <offset>0.785398163398</offset>
    </plugin>
    <plugin filename="libroboticsgroup_gazebo_mimic_joint_plugin.so" name="LThumb2">
      <joint>LHand</joint>
      <mimicJoint>LThumb2</mimicJoint>
      <multiplier>-0.785398163398</multiplier>
      <offset>0.785398163398</offset>
    </plugin>
    <plugin filename="libroboticsgroup_gazebo_mimic_joint_plugin.so" name="RThumb1">
      <joint>RHand</joint>
      <mimicJoint>RThumb1</mimicJoint>
      <multiplier>-0.785398163398</multiplier>
      <offset>0.785398163398</offset>
    </plugin>
    <plugin filename="libroboticsgroup_gazebo_mimic_joint_plugin.so" name="RThumb2">
      <joint>RHand</joint>
      <mimicJoint>RThumb2</mimicJoint>
      <multiplier>-0.785398163398</multiplier>
      <offset>0.785398163398</offset>
    </plugin>
    <plugin filename="libroboticsgroup_gazebo_disable_link_plugin.so" name="LFinger11_link">
      <link>LFinger11_link</link>
    </plugin>
    <plugin filename="libroboticsgroup_gazebo_disable_link_plugin.so" name="LFinger12_link">
      <link>LFinger12_link</link>
    </plugin>
    <plugin filename="libroboticsgroup_gazebo_disable_link_plugin.so" name="LFinger13_link">
      <link>LFinger13_link</link>
    </plugin>
    <plugin filename="libroboticsgroup_gazebo_disable_link_plugin.so" name="LFinger21_link">
      <link>LFinger21_link</link>
    </plugin>
    <plugin filename="libroboticsgroup_gazebo_disable_link_plugin.so" name="LFinger22_link">
      <link>LFinger22_link</link>
    </plugin>
    <plugin filename="libroboticsgroup_gazebo_disable_link_plugin.so" name="LFinger23_link">
      <link>LFinger23_link</link>
    </plugin>
    <plugin filename="libroboticsgroup_gazebo_disable_link_plugin.so" name="LFinger31_link">
      <link>LFinger31_link</link>
    </plugin>
    <plugin filename="libroboticsgroup_gazebo_disable_link_plugin.so" name="LFinger32_link">
      <link>LFinger32_link</link>
    </plugin>
    <plugin filename="libroboticsgroup_gazebo_disable_link_plugin.so" name="LFinger33_link">
      <link>LFinger33_link</link>
    </plugin>
    <plugin filename="libroboticsgroup_gazebo_disable_link_plugin.so" name="LThumb1_link">
      <link>LThumb1_link</link>
    </plugin>
    <plugin filename="libroboticsgroup_gazebo_disable_link_plugin.so" name="LThumb2_link">
      <link>LThumb2_link</link>
    </plugin>
    <plugin filename="libroboticsgroup_gazebo_disable_link_plugin.so" name="l_gripper">
      <link>l_gripper</link>
    </plugin>
    <plugin filename="libroboticsgroup_gazebo_disable_link_plugin.so" name="RFinger11_link">
      <link>RFinger11_link</link>
    </plugin>
    <plugin filename="libroboticsgroup_gazebo_disable_link_plugin.so" name="RFinger12_link">
      <link>RFinger12_link</link>
    </plugin>
    <plugin filename="libroboticsgroup_gazebo_disable_link_plugin.so" name="RFinger13_link">
      <link>RFinger13_link</link>
    </plugin>
    <plugin filename="libroboticsgroup_gazebo_disable_link_plugin.so" name="RFinger21_link">
      <link>RFinger21_link</link>
    </plugin>
    <plugin filename="libroboticsgroup_gazebo_disable_link_plugin.so" name="RFinger22_link">
      <link>RFinger22_link</link>
    </plugin>
    <plugin filename="libroboticsgroup_gazebo_disable_link_plugin.so" name="RFinger23_link">
      <link>RFinger23_link</link>
    </plugin>
    <plugin filename="libroboticsgroup_gazebo_disable_link_plugin.so" name="RFinger31_link">
      <link>RFinger31_link</link>
    </plugin>
    <plugin filename="libroboticsgroup_gazebo_disable_link_plugin.so" name="RFinger32_link">
      <link>RFinger32_link</link>
    </plugin>
    <plugin filename="libroboticsgroup_gazebo_disable_link_plugin.so" name="RFinger33_link">
      <link>RFinger33_link</link>
    </plugin>
    <plugin filename="libroboticsgroup_gazebo_disable_link_plugin.so" name="RThumb1_link">
      <link>RThumb1_link</link>
    </plugin>
    <plugin filename="libroboticsgroup_gazebo_disable_link_plugin.so" name="RThumb2_link">
      <link>RThumb2_link</link>
    </plugin>
    <plugin filename="libroboticsgroup_gazebo_disable_link_plugin.so" name="r_gripper">
      <link>r_gripper</link>
    </plugin>
  </gazebo>
  <!-- END OF GAZEBO ROS CONTROL PLUGIN -->
  <!-- GAZEBO MATERIALS -->
  <gazebo reference="torso">
    <mu1>0.5</mu1>
    <mu2>0.5</mu2>
    <selfCollide>false</selfCollide>
    <turnGravityOff>false</turnGravityOff>
  </gazebo>
  <gazebo reference="body">
    <mu1>0.5</mu1>
    <mu2>0.5</mu2>
    <selfCollide>false</selfCollide>
    <turnGravityOff>false</turnGravityOff>
  </gazebo>
  <gazebo reference="Neck">
    <mu1>0.5</mu1>
    <mu2>0.5</mu2>
    <selfCollide>false</selfCollide>
    <turnGravityOff>false</turnGravityOff>
  </gazebo>
  <gazebo reference="Head">
    <mu1>0.5</mu1>
    <mu2>0.5</mu2>
    <selfCollide>false</selfCollide>
    <turnGravityOff>false</turnGravityOff>
  </gazebo>
  <gazebo reference="gaze">
    <mu1>0.5</mu1>
    <mu2>0.5</mu2>
    <selfCollide>false</selfCollide>
    <turnGravityOff>false</turnGravityOff>
  </gazebo>
  <!-- ARMS -->
  <gazebo reference="LShoulder">
    <mu1>0.5</mu1>
    <mu2>0.5</mu2>
    <selfCollide>false</selfCollide>
    <turnGravityOff>false</turnGravityOff>
  </gazebo>
  <gazebo reference="LShoulderYaw_link">
    <mu1>0.5</mu1>
    <mu2>0.5</mu2>
    <selfCollide>false</selfCollide>
    <turnGravityOff>false</turnGravityOff>
  </gazebo>
  <gazebo reference="LForeArm">
    <mu1>0.5</mu1>
    <mu2>0.5</mu2>
    <selfCollide>false</selfCollide>
    <turnGravityOff>false</turnGravityOff>
  </gazebo>
  <gazebo reference="LElbow">
    <mu1>0.5</mu1>
    <mu2>0.5</mu2>
    <selfCollide>false</selfCollide>
    <turnGravityOff>false</turnGravityOff>
  </gazebo>
  <gazebo reference="LWristRoll_link">
    <mu1>0.5</mu1>
    <mu2>0.5</mu2>
    <selfCollide>false</selfCollide>
    <turnGravityOff>false</turnGravityOff>
  </gazebo>
  <gazebo reference="LWristYaw_link">
    <mu1>0.5</mu1>
    <mu2>0.5</mu2>
    <selfCollide>false</selfCollide>
    <turnGravityOff>false</turnGravityOff>
  </gazebo>
  <gazebo reference="l_wrist">
    <mu1>0.5</mu1>
    <mu2>0.5</mu2>
    <selfCollide>false</selfCollide>
    <turnGravityOff>false</turnGravityOff>
  </gazebo>
  <gazebo reference="l_gripper">
    <mu1>0.5</mu1>
    <mu2>0.5</mu2>
    <selfCollide>false</selfCollide>
    <turnGravityOff>true</turnGravityOff>
  </gazebo>
  <gazebo reference="RShoulder">
    <mu1>0.5</mu1>
    <mu2>0.5</mu2>
    <selfCollide>false</selfCollide>
    <turnGravityOff>false</turnGravityOff>
  </gazebo>
  <gazebo reference="RShoulderYaw_link">
    <mu1>0.5</mu1>
    <mu2>0.5</mu2>
    <selfCollide>false</selfCollide>
    <turnGravityOff>false</turnGravityOff>
  </gazebo>
  <gazebo reference="RForeArm">
    <mu1>0.5</mu1>
    <mu2>0.5</mu2>
    <selfCollide>false</selfCollide>
    <turnGravityOff>false</turnGravityOff>
  </gazebo>
  <gazebo reference="RElbow">
    <mu1>0.5</mu1>
    <mu2>0.5</mu2>
    <selfCollide>false</selfCollide>
    <turnGravityOff>false</turnGravityOff>
  </gazebo>
  <gazebo reference="RWristRoll_link">
    <mu1>0.5</mu1>
    <mu2>0.5</mu2>
    <selfCollide>false</selfCollide>
    <turnGravityOff>false</turnGravityOff>
  </gazebo>
  <gazebo reference="RWristYaw_link">
    <mu1>0.5</mu1>
    <mu2>0.5</mu2>
    <selfCollide>false</selfCollide>
    <turnGravityOff>false</turnGravityOff>
  </gazebo>
  <gazebo reference="r_wrist">
    <mu1>0.5</mu1>
    <mu2>0.5</mu2>
    <selfCollide>false</selfCollide>
    <turnGravityOff>false</turnGravityOff>
  </gazebo>
  <gazebo reference="r_gripper">
    <mu1>0.5</mu1>
    <mu2>0.5</mu2>
    <selfCollide>false</selfCollide>
    <turnGravityOff>true</turnGravityOff>
  </gazebo>
  <gazebo reference="LFinger11_link">
    <mu1>0.5</mu1>
    <mu2>0.5</mu2>
    <selfCollide>false</selfCollide>
    <turnGravityOff>true</turnGravityOff>
  </gazebo>
  <gazebo reference="LFinger12_link">
    <mu1>0.5</mu1>
    <mu2>0.5</mu2>
    <selfCollide>false</selfCollide>
    <turnGravityOff>true</turnGravityOff>
  </gazebo>
  <gazebo reference="LFinger13_link">
    <mu1>0.5</mu1>
    <mu2>0.5</mu2>
    <selfCollide>false</selfCollide>
    <turnGravityOff>true</turnGravityOff>
  </gazebo>
  <gazebo reference="LFinger21_link">
    <mu1>0.5</mu1>
    <mu2>0.5</mu2>
    <selfCollide>false</selfCollide>
    <turnGravityOff>true</turnGravityOff>
  </gazebo>
  <gazebo reference="LFinger22_link">
    <mu1>0.5</mu1>
    <mu2>0.5</mu2>
    <selfCollide>false</selfCollide>
    <turnGravityOff>true</turnGravityOff>
  </gazebo>
  <gazebo reference="LFinger23_link">
    <mu1>0.5</mu1>
    <mu2>0.5</mu2>
    <selfCollide>false</selfCollide>
    <turnGravityOff>true</turnGravityOff>
  </gazebo>
  <gazebo reference="LFinger31_link">
    <mu1>0.5</mu1>
    <mu2>0.5</mu2>
    <selfCollide>false</selfCollide>
    <turnGravityOff>true</turnGravityOff>
  </gazebo>
  <gazebo reference="LFinger32_link">
    <mu1>0.5</mu1>
    <mu2>0.5</mu2>
    <selfCollide>false</selfCollide>
    <turnGravityOff>true</turnGravityOff>
  </gazebo>
  <gazebo reference="LFinger33_link">
    <mu1>0.5</mu1>
    <mu2>0.5</mu2>
    <selfCollide>false</selfCollide>
    <turnGravityOff>true</turnGravityOff>
  </gazebo>
  <gazebo reference="LThumb1_link">
    <mu1>0.5</mu1>
    <mu2>0.5</mu2>
    <selfCollide>false</selfCollide>
    <turnGravityOff>true</turnGravityOff>
  </gazebo>
  <gazebo reference="LThumb2_link">
    <mu1>0.5</mu1>
    <mu2>0.5</mu2>
    <selfCollide>false</selfCollide>
    <turnGravityOff>true</turnGravityOff>
  </gazebo>
  <gazebo reference="LHipYaw_link">
    <mu1>0.5</mu1>
    <mu2>0.5</mu2>
    <selfCollide>false</selfCollide>
    <turnGravityOff>false</turnGravityOff>
  </gazebo>
  <gazebo reference="LHip">
    <mu1>0.5</mu1>
    <mu2>0.5</mu2>
    <selfCollide>false</selfCollide>
    <turnGravityOff>false</turnGravityOff>
  </gazebo>
  <gazebo reference="LThigh">
    <mu1>0.5</mu1>
    <mu2>0.5</mu2>
    <selfCollide>false</selfCollide>
    <turnGravityOff>false</turnGravityOff>
  </gazebo>
  <gazebo reference="LTibia">
    <mu1>0.5</mu1>
    <mu2>0.5</mu2>
    <selfCollide>false</selfCollide>
    <turnGravityOff>false</turnGravityOff>
  </gazebo>
  <gazebo reference="LAnklePitch_link">
    <mu1>0.5</mu1>
    <mu2>0.5</mu2>
    <selfCollide>false</selfCollide>
    <turnGravityOff>false</turnGravityOff>
  </gazebo>
  <gazebo reference="l_ankle">
    <mu1>0.5</mu1>
    <mu2>0.5</mu2>
    <selfCollide>false</selfCollide>
    <turnGravityOff>false</turnGravityOff>
    <fdir1>1 0 0</fdir1>
    <maxVel>0.1</maxVel>
    <minDepth>0.003</minDepth>
  </gazebo>
  <gazebo reference="RHipYaw_link">
    <mu1>0.5</mu1>
    <mu2>0.5</mu2>
    <selfCollide>false</selfCollide>
    <turnGravityOff>false</turnGravityOff>
  </gazebo>
  <gazebo reference="RHip">
    <mu1>0.5</mu1>
    <mu2>0.5</mu2>
    <selfCollide>false</selfCollide>
    <turnGravityOff>false</turnGravityOff>
  </gazebo>
  <gazebo reference="RThigh">
    <mu1>0.5</mu1>
    <mu2>0.5</mu2>
    <selfCollide>false</selfCollide>
    <turnGravityOff>false</turnGravityOff>
  </gazebo>
  <gazebo reference="RTibia">
    <mu1>0.5</mu1>
    <mu2>0.5</mu2>
    <selfCollide>false</selfCollide>
    <turnGravityOff>false</turnGravityOff>
  </gazebo>
  <gazebo reference="RAnklePitch_link">
    <mu1>0.5</mu1>
    <mu2>0.5</mu2>
    <selfCollide>false</selfCollide>
    <turnGravityOff>false</turnGravityOff>
  </gazebo>
  <gazebo reference="r_ankle">
    <mu1>0.5</mu1>
    <mu2>0.5</mu2>
    <selfCollide>false</selfCollide>
    <turnGravityOff>false</turnGravityOff>
    <fdir1>1 0 0</fdir1>
    <maxVel>0.1</maxVel>
    <minDepth>0.003</minDepth>
  </gazebo>
  <gazebo reference="RFinger11_link">
    <mu1>0.5</mu1>
    <mu2>0.5</mu2>
    <selfCollide>false</selfCollide>
    <turnGravityOff>true</turnGravityOff>
  </gazebo>
  <gazebo reference="RFinger12_link">
    <mu1>0.5</mu1>
    <mu2>0.5</mu2>
    <selfCollide>false</selfCollide>
    <turnGravityOff>true</turnGravityOff>
  </gazebo>
  <gazebo reference="RFinger13_link">
    <mu1>0.5</mu1>
    <mu2>0.5</mu2>
    <selfCollide>false</selfCollide>
    <turnGravityOff>true</turnGravityOff>
  </gazebo>
  <gazebo reference="RFinger21_link">
    <mu1>0.5</mu1>
    <mu2>0.5</mu2>
    <selfCollide>false</selfCollide>
    <turnGravityOff>true</turnGravityOff>
  </gazebo>
  <gazebo reference="RFinger22_link">
    <mu1>0.5</mu1>
    <mu2>0.5</mu2>
    <selfCollide>false</selfCollide>
    <turnGravityOff>true</turnGravityOff>
  </gazebo>
  <gazebo reference="RFinger23_link">
    <mu1>0.5</mu1>
    <mu2>0.5</mu2>
    <selfCollide>false</selfCollide>
    <turnGravityOff>true</turnGravityOff>
  </gazebo>
  <gazebo reference="RFinger31_link">
    <mu1>0.5</mu1>
    <mu2>0.5</mu2>
    <selfCollide>false</selfCollide>
    <turnGravityOff>true</turnGravityOff>
  </gazebo>
  <gazebo reference="RFinger32_link">
    <mu1>0.5</mu1>
    <mu2>0.5</mu2>
    <selfCollide>false</selfCollide>
    <turnGravityOff>true</turnGravityOff>
  </gazebo>
  <gazebo reference="RFinger33_link">
    <mu1>0.5</mu1>
    <mu2>0.5</mu2>
    <selfCollide>false</selfCollide>
    <turnGravityOff>true</turnGravityOff>
  </gazebo>
  <gazebo reference="RThumb1_link">
    <mu1>0.5</mu1>
    <mu2>0.5</mu2>
    <selfCollide>false</selfCollide>
    <turnGravityOff>true</turnGravityOff>
  </gazebo>
  <gazebo reference="RThumb2_link">
    <mu1>0.5</mu1>
    <mu2>0.5</mu2>
    <selfCollide>false</selfCollide>
    <turnGravityOff>true</turnGravityOff>
  </gazebo>
  <!--

        RGB CAMERAS: Working
-->
  <gazebo reference="CameraRightEye_frame">
    <sensor name="CameraRightEye" type="camera">
      <update_rate>5.0</update_rate>
      <camera name="camera/right">
        <horizontal_fov>1.06290551</horizontal_fov>
        <image>
          <width>640</width>
          <height>480</height>
          <format>R8G8B8</format>
        </image>
        <clip>
          <near>0.3</near>
          <far>500</far>
        </clip>
        <noise>
          <type>gaussian</type>
          <mean>0.0</mean>
          <stddev>0.007</stddev>
        </noise>
      </camera>
      <plugin filename="libgazebo_ros_camera.so" name="camera_controller">
        <robotNamespace>romeo_robot</robotNamespace>
        <alwaysOn>true</alwaysOn>
        <updateRate>5.0</updateRate>
        <cameraName>camera_right</cameraName>
        <imageTopicName>image_raw</imageTopicName>
        <cameraInfoTopicName>camera_info</cameraInfoTopicName>
        <frameName>CameraRightEye_optical_frame</frameName>
        <hackBaseline>0.07</hackBaseline>
        <distortionK1>-0.0545211</distortionK1>
        <distortionK2>0.06919734</distortionK2>
        <distortionK3>-0.0241095</distortionK3>
        <distortionT1>-0.0112245</distortionT1>
        <distortionT2>0.0</distortionT2>
      </plugin>
    </sensor>
  </gazebo>
  <gazebo reference="CameraLeftEye_frame">
    <sensor name="CameraLeftEye" type="camera">
      <update_rate>5.0</update_rate>
      <camera name="camera/left">
        <horizontal_fov>1.06290551</horizontal_fov>
        <image>
          <width>640</width>
          <height>480</height>
          <format>R8G8B8</format>
        </image>
        <clip>
          <near>0.05</near>
          <far>500</far>
        </clip>
        <noise>
          <type>gaussian</type>
          <mean>0.0</mean>
          <stddev>0.007</stddev>
        </noise>
      </camera>
      <plugin filename="libgazebo_ros_camera.so" name="camera_controller">
        <robotNamespace>/romeo_robot</robotNamespace>
        <alwaysOn>true</alwaysOn>
        <updateRate>5.0</updateRate>
        <cameraName>camera_left</cameraName>
        <imageTopicName>image_raw</imageTopicName>
        <cameraInfoTopicName>camera_info</cameraInfoTopicName>
        <frameName>CameraLeftEye_optical_frame</frameName>
        <hackBaseline>0.07</hackBaseline>
        <distortionK1>-0.0648764</distortionK1>
        <distortionK2>0.06125202</distortionK2>
        <distortionK3>0.00382815</distortionK3>
        <distortionT1>-0.00551104</distortionT1>
        <distortionT2>0.0</distortionT2>
      </plugin>
    </sensor>
  </gazebo>
  <gazebo reference="CameraDepth_frame">
    <sensor name="CameraDepth_frame_sensor" type="depth">
      <always_on>true</always_on>
      <update_rate>20.0</update_rate>
      <camera>
        <horizontal_fov>1.01229096616</horizontal_fov>
        <image>
          <format>B8G8R8</format>
          <width>320</width>
          <height>240</height>
        </image>
        <clip>
          <near>0.4</near>
          <far>8.0</far>
        </clip>
      </camera>
      <plugin filename="libgazebo_ros_openni_kinect.so" name="CameraDepth_frame_controller">
        <alwaysOn>true</alwaysOn>
        <updateRate>20.0</updateRate>
        <cameraName>romeo_robot/camera</cameraName>
        <imageTopicName>ir/image_raw</imageTopicName>
        <cameraInfoTopicName>depth/camera_info</cameraInfoTopicName>
        <depthImageTopicName>depth/image_raw</depthImageTopicName>
        <pointCloudTopicName>depth/points</pointCloudTopicName>
        <frameName>CameraDepth_optical_frame</frameName>
        <pointCloudCutoff>0.4</pointCloudCutoff>
        <pointCloudCutoffMax>8.0</pointCloudCutoffMax>
      </plugin>
    </sensor>
  </gazebo>
  <!-- HEAD -->
  <transmission name="NeckYaw_Transmission">
    <type>transmission_interface/SimpleTransmission</type>
    <joint name="NeckYaw">
      <hardwareInterface>PositionJointInterface</hardwareInterface>
    </joint>
    <actuator name="NeckYaw_Motor">
      <!-- Dummy Values -->
      <hardwareInterface>PositionJointInterface</hardwareInterface>
      <mechanicalReduction>145.2</mechanicalReduction>
    </actuator>
  </transmission>
  <transmission name="NeckPitch_Transmission">
    <type>transmission_interface/SimpleTransmission</type>
    <joint name="NeckPitch">
      <hardwareInterface>PositionJointInterface</hardwareInterface>
    </joint>
    <actuator name="NeckPitch_Motor">
      <!-- Dummy Values -->
      <hardwareInterface>PositionJointInterface</hardwareInterface>
      <mechanicalReduction>118.1</mechanicalReduction>
    </actuator>
  </transmission>
  <transmission name="HeadPitch_Transmission">
    <type>transmission_interface/SimpleTransmission</type>
    <joint name="HeadPitch">
      <hardwareInterface>PositionJointInterface</hardwareInterface>
    </joint>
    <actuator name="HeadPitch_Motor">
      <!-- Dummy Values -->
      <hardwareInterface>PositionJointInterface</hardwareInterface>
      <mechanicalReduction>130.8</mechanicalReduction>
    </actuator>
  </transmission>
  <transmission name="HeadRoll_Transmission">
    <type>transmission_interface/SimpleTransmission</type>
    <joint name="HeadRoll">
      <hardwareInterface>PositionJointInterface</hardwareInterface>
    </joint>
    <actuator name="HeadRoll_Motor">
      <!-- Dummy Values -->
      <hardwareInterface>PositionJointInterface</hardwareInterface>
      <mechanicalReduction>201.3</mechanicalReduction>
    </actuator>
  </transmission>
  <!-- ARMS -->
  <!-- XACRO -->
  <transmission name="LShoulderPitch_Transmission">
    <type>transmission_interface/SimpleTransmission</type>
    <joint name="LShoulderPitch">
      <hardwareInterface>PositionJointInterface</hardwareInterface>
    </joint>
    <actuator name="LShoulderPitch_Motor">
      <hardwareInterface>PositionJointInterface</hardwareInterface>
      <mechanicalReduction>249.7</mechanicalReduction>
    </actuator>
  </transmission>
  <transmission name="LShoulderYaw_Transmission">
    <type>transmission_interface/SimpleTransmission</type>
    <joint name="LShoulderYaw">
      <hardwareInterface>PositionJointInterface</hardwareInterface>
    </joint>
    <actuator name="LShoulderYaw_Motor">
      <hardwareInterface>PositionJointInterface</hardwareInterface>
      <mechanicalReduction>118.1</mechanicalReduction>
    </actuator>
  </transmission>
  <transmission name="LElbowRoll_Transmission">
    <type>transmission_interface/SimpleTransmission</type>
    <joint name="LElbowRoll">
      <hardwareInterface>PositionJointInterface</hardwareInterface>
    </joint>
    <actuator name="LElbowRoll_Motor">
      <hardwareInterface>PositionJointInterface</hardwareInterface>
      <mechanicalReduction>145.2</mechanicalReduction>
    </actuator>
  </transmission>
  <transmission name="LElbowYaw_Transmission">
    <type>transmission_interface/SimpleTransmission</type>
    <joint name="LElbowYaw">
      <hardwareInterface>PositionJointInterface</hardwareInterface>
    </joint>
    <actuator name="LElbowYaw_Motor">
      <hardwareInterface>PositionJointInterface</hardwareInterface>
      <mechanicalReduction>118.1</mechanicalReduction>
    </actuator>
  </transmission>
  <transmission name="LWristRoll_Transmission">
    <type>transmission_interface/SimpleTransmission</type>
    <joint name="LWristRoll">
      <hardwareInterface>PositionJointInterface</hardwareInterface>
    </joint>
    <actuator name="LWristRoll_Motor">
      <hardwareInterface>PositionJointInterface</hardwareInterface>
      <mechanicalReduction>201.3</mechanicalReduction>
    </actuator>
  </transmission>
  <transmission name="LWristYaw_Transmission">
    <type>transmission_interface/SimpleTransmission</type>
    <joint name="LWristYaw">
      <hardwareInterface>PositionJointInterface</hardwareInterface>
    </joint>
    <actuator name="LWristYaw_Motor">
      <hardwareInterface>PositionJointInterface</hardwareInterface>
      <mechanicalReduction>249.9</mechanicalReduction>
    </actuator>
  </transmission>
  <transmission name="LWristPitch_Transmission">
    <type>transmission_interface/SimpleTransmission</type>
    <joint name="LWristPitch">
      <hardwareInterface>PositionJointInterface</hardwareInterface>
    </joint>
    <actuator name="LWristPitch_Motor">
      <hardwareInterface>PositionJointInterface</hardwareInterface>
      <mechanicalReduction>173.2</mechanicalReduction>
    </actuator>
  </transmission>
  <transmission name="LHand_Transmission">
    <type>transmission_interface/SimpleTransmission</type>
    <joint name="LHand">
      <hardwareInterface>PositionJointInterface</hardwareInterface>
    </joint>
    <actuator name="LHand_Motor">
      <hardwareInterface>PositionJointInterface</hardwareInterface>
      <mechanicalReduction>13.03</mechanicalReduction>
    </actuator>
  </transmission>
  <transmission name="RShoulderPitch_Transmission">
    <type>transmission_interface/SimpleTransmission</type>
    <joint name="RShoulderPitch">
      <hardwareInterface>PositionJointInterface</hardwareInterface>
    </joint>
    <actuator name="RShoulderPitch_Motor">
      <hardwareInterface>PositionJointInterface</hardwareInterface>
      <mechanicalReduction>249.7</mechanicalReduction>
    </actuator>
  </transmission>
  <transmission name="RShoulderYaw_Transmission">
    <type>transmission_interface/SimpleTransmission</type>
    <joint name="RShoulderYaw">
      <hardwareInterface>PositionJointInterface</hardwareInterface>
    </joint>
    <actuator name="RShoulderYaw_Motor">
      <hardwareInterface>PositionJointInterface</hardwareInterface>
      <mechanicalReduction>118.1</mechanicalReduction>
    </actuator>
  </transmission>
  <transmission name="RElbowRoll_Transmission">
    <type>transmission_interface/SimpleTransmission</type>
    <joint name="RElbowRoll">
      <hardwareInterface>PositionJointInterface</hardwareInterface>
    </joint>
    <actuator name="RElbowRoll_Motor">
      <hardwareInterface>PositionJointInterface</hardwareInterface>
      <mechanicalReduction>145.2</mechanicalReduction>
    </actuator>
  </transmission>
  <transmission name="RElbowYaw_Transmission">
    <type>transmission_interface/SimpleTransmission</type>
    <joint name="RElbowYaw">
      <hardwareInterface>PositionJointInterface</hardwareInterface>
    </joint>
    <actuator name="RElbowYaw_Motor">
      <hardwareInterface>PositionJointInterface</hardwareInterface>
      <mechanicalReduction>118.1</mechanicalReduction>
    </actuator>
  </transmission>
  <transmission name="RWristRoll_Transmission">
    <type>transmission_interface/SimpleTransmission</type>
    <joint name="RWristRoll">
      <hardwareInterface>PositionJointInterface</hardwareInterface>
    </joint>
    <actuator name="RWristRoll_Motor">
      <hardwareInterface>PositionJointInterface</hardwareInterface>
      <mechanicalReduction>201.3</mechanicalReduction>
    </actuator>
  </transmission>
  <transmission name="RWristYaw_Transmission">
    <type>transmission_interface/SimpleTransmission</type>
    <joint name="RWristYaw">
      <hardwareInterface>PositionJointInterface</hardwareInterface>
    </joint>
    <actuator name="RWristYaw_Motor">
      <hardwareInterface>PositionJointInterface</hardwareInterface>
      <mechanicalReduction>249.9</mechanicalReduction>
    </actuator>
  </transmission>
  <transmission name="RWristPitch_Transmission">
    <type>transmission_interface/SimpleTransmission</type>
    <joint name="RWristPitch">
      <hardwareInterface>PositionJointInterface</hardwareInterface>
    </joint>
    <actuator name="RWristPitch_Motor">
      <hardwareInterface>PositionJointInterface</hardwareInterface>
      <mechanicalReduction>173.2</mechanicalReduction>
    </actuator>
  </transmission>
  <transmission name="RHand_Transmission">
    <type>transmission_interface/SimpleTransmission</type>
    <joint name="RHand">
      <hardwareInterface>PositionJointInterface</hardwareInterface>
    </joint>
    <actuator name="RHand_Motor">
      <hardwareInterface>PositionJointInterface</hardwareInterface>
      <mechanicalReduction>13.03</mechanicalReduction>
    </actuator>
  </transmission>
  <transmission name="TrunkYaw_Transmission">
    <type>transmission_interface/SimpleTransmission</type>
    <joint name="TrunkYaw">
      <hardwareInterface>PositionJointInterface</hardwareInterface>
    </joint>
    <actuator name="TrunkYaw_Motor">
      <!-- Dummy Values -->
      <hardwareInterface>PositionJointInterface</hardwareInterface>
      <mechanicalReduction>292.47</mechanicalReduction>
    </actuator>
  </transmission>
  <!-- LEGS -->
  <transmission name="LHipYaw_Transmission">
    <type>transmission_interface/SimpleTransmission</type>
    <joint name="LHipYaw">
      <hardwareInterface>PositionJointInterface</hardwareInterface>
    </joint>
    <actuator name="LHipYaw_Motor">
      <!-- Dummy Values -->
      <hardwareInterface>PositionJointInterface</hardwareInterface>
      <mechanicalReduction>2696.58</mechanicalReduction>
    </actuator>
  </transmission>
  <transmission name="LHipRoll_Transmission">
    <type>transmission_interface/SimpleTransmission</type>
    <joint name="LHipRoll">
      <hardwareInterface>PositionJointInterface</hardwareInterface>
    </joint>
    <actuator name="LHipRoll_Motor">
      <!-- Dummy Values -->
      <hardwareInterface>PositionJointInterface</hardwareInterface>
      <mechanicalReduction>160.448</mechanicalReduction>
    </actuator>
  </transmission>
  <transmission name="LHipPitch_Transmission">
    <type>transmission_interface/SimpleTransmission</type>
    <joint name="LHipPitch">
      <hardwareInterface>PositionJointInterface</hardwareInterface>
    </joint>
    <actuator name="LHipPitch_Motor">
      <!-- Dummy Values -->
      <hardwareInterface>PositionJointInterface</hardwareInterface>
      <mechanicalReduction>243.736</mechanicalReduction>
    </actuator>
  </transmission>
  <transmission name="LKneePitch_Transmission">
    <type>transmission_interface/SimpleTransmission</type>
    <joint name="LKneePitch">
      <hardwareInterface>PositionJointInterface</hardwareInterface>
    </joint>
    <actuator name="LKneePitch_Motor">
      <!-- Dummy Values -->
      <hardwareInterface>PositionJointInterface</hardwareInterface>
      <mechanicalReduction>100.0</mechanicalReduction>
    </actuator>
  </transmission>
  <transmission name="LAnklePitch_Transmission">
    <type>transmission_interface/SimpleTransmission</type>
    <joint name="LAnklePitch">
      <hardwareInterface>PositionJointInterface</hardwareInterface>
    </joint>
    <actuator name="LAnklePitch_Motor">
      <!-- Dummy Values -->
      <hardwareInterface>PositionJointInterface</hardwareInterface>
      <mechanicalReduction>247.338</mechanicalReduction>
    </actuator>
  </transmission>
  <transmission name="LAnkleRoll_Transmission">
    <type>transmission_interface/SimpleTransmission</type>
    <joint name="LAnkleRoll">
      <hardwareInterface>PositionJointInterface</hardwareInterface>
    </joint>
    <actuator name="LAnkleRoll_Motor">
      <!-- Dummy Values -->
      <hardwareInterface>PositionJointInterface</hardwareInterface>
      <mechanicalReduction>168.65</mechanicalReduction>
    </actuator>
  </transmission>
  <transmission name="RHipYaw_Transmission">
    <type>transmission_interface/SimpleTransmission</type>
    <joint name="RHipYaw">
      <hardwareInterface>PositionJointInterface</hardwareInterface>
    </joint>
    <actuator name="RHipYaw_Motor">
      <!-- Dummy Values -->
      <hardwareInterface>PositionJointInterface</hardwareInterface>
      <mechanicalReduction>2696.58</mechanicalReduction>
    </actuator>
  </transmission>
  <transmission name="RHipRoll_Transmission">
    <type>transmission_interface/SimpleTransmission</type>
    <joint name="RHipRoll">
      <hardwareInterface>PositionJointInterface</hardwareInterface>
    </joint>
    <actuator name="RHipRoll_Motor">
      <!-- Dummy Values -->
      <hardwareInterface>PositionJointInterface</hardwareInterface>
      <mechanicalReduction>160.448</mechanicalReduction>
    </actuator>
  </transmission>
  <transmission name="RHipPitch_Transmission">
    <type>transmission_interface/SimpleTransmission</type>
    <joint name="RHipPitch">
      <hardwareInterface>PositionJointInterface</hardwareInterface>
    </joint>
    <actuator name="RHipPitch_Motor">
      <!-- Dummy Values -->
      <hardwareInterface>PositionJointInterface</hardwareInterface>
      <mechanicalReduction>243.736</mechanicalReduction>
    </actuator>
  </transmission>
  <transmission name="RKneePitch_Transmission">
    <type>transmission_interface/SimpleTransmission</type>
    <joint name="RKneePitch">
      <hardwareInterface>PositionJointInterface</hardwareInterface>
    </joint>
    <actuator name="RKneePitch_Motor">
      <!-- Dummy Values -->
      <hardwareInterface>PositionJointInterface</hardwareInterface>
      <mechanicalReduction>100.0</mechanicalReduction>
    </actuator>
  </transmission>
  <transmission name="RAnklePitch_Transmission">
    <type>transmission_interface/SimpleTransmission</type>
    <joint name="RAnklePitch">
      <hardwareInterface>PositionJointInterface</hardwareInterface>
    </joint>
    <actuator name="RAnklePitch_Motor">
      <!-- Dummy Values -->
      <hardwareInterface>PositionJointInterface</hardwareInterface>
      <mechanicalReduction>247.338</mechanicalReduction>
    </actuator>
  </transmission>
  <transmission name="RAnkleRoll_Transmission">
    <type>transmission_interface/SimpleTransmission</type>
    <joint name="RAnkleRoll">
      <hardwareInterface>PositionJointInterface</hardwareInterface>
    </joint>
    <actuator name="RAnkleRoll_Motor">
      <!-- Dummy Values -->
      <hardwareInterface>PositionJointInterface</hardwareInterface>
      <mechanicalReduction>168.65</mechanicalReduction>
    </actuator>
  </transmission>
</robot>
